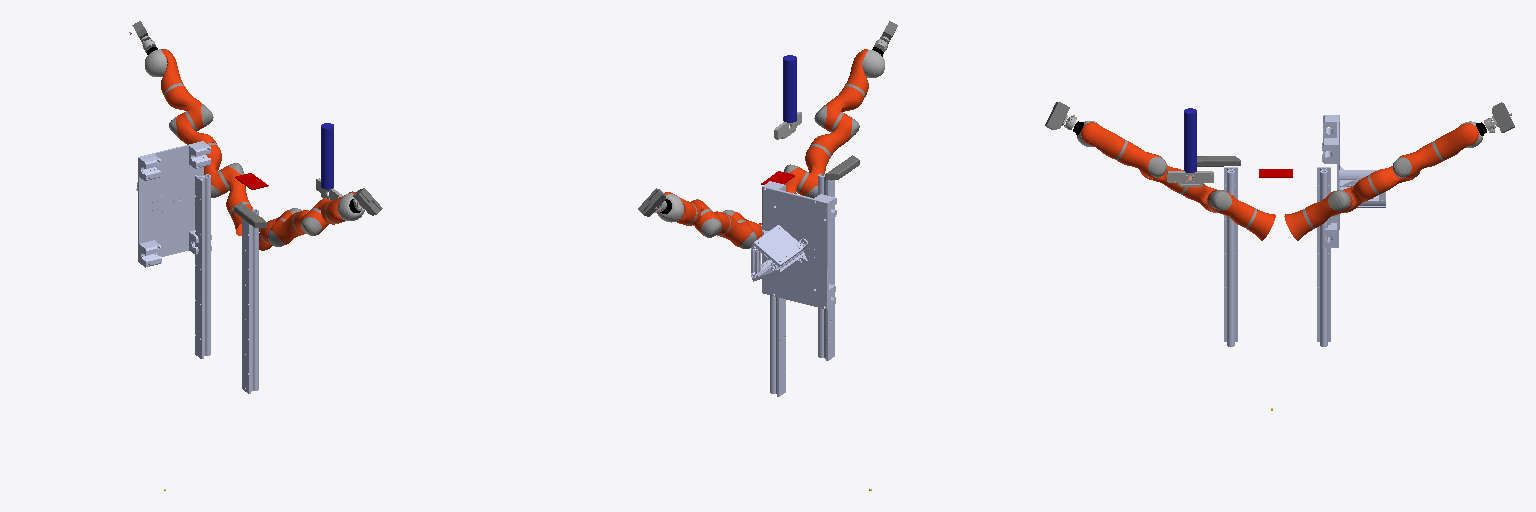
--- Facts derived from the render (not from the file) ---
3 views of the same robot in one strip: view 1: azimuth 30°, elevation 25°; view 2: azimuth 150°, elevation 25°; view 3: azimuth 270°, elevation 25° (orthographic).
Robot: boxy_description — 82 links, 81 joints (20 revolute, 3 continuous, 6 prismatic, 52 fixed); root link base_footprint; default pose: all joints at 0 but 4 set to mid-range because 0 is outside their limits (left_gripper_base_gripper_left_joint = -0.0289, left_gripper_base_gripper_right_joint = 0.0289, right_gripper_base_gripper_left_joint = -0.0289, right_gripper_base_gripper_right_joint = 0.0289).
Visible links, largest first — view 1: triangle_base_link, torso_base_link, left_arm_4_link, neck_look_target, left_arm_1_link, left_arm_3_link, right_arm_3_link, left_arm_2_link, right_arm_2_link; view 2: triangle_base_link, torso_base_link, right_arm_4_link, right_arm_2_link, neck_look_target, right_arm_3_link, left_arm_3_link, left_arm_2_link; view 3: torso_base_link, triangle_base_link, right_arm_4_link, left_arm_4_link, left_arm_1_link, right_arm_1_link, right_arm_5_link, left_arm_5_link, neck_look_target, neck_adapter_iso50_kinect2_frame_in, left_arm_2_link, left_arm_3_link (+2 smaller).
Link boxes in pixels (x1,y1,x2,y2): triangle_base_link: (136,141,211,267); torso_base_link: (195,174,258,393); left_arm_4_link: (164,83,213,130); neck_look_target: (321,123,333,189); left_arm_1_link: (217,163,249,213); left_arm_3_link: (169,111,216,144); right_arm_3_link: (294,208,328,235); left_arm_2_link: (204,143,227,197); right_arm_2_link: (268,212,303,246); triangle_base_link: (751,181,836,309); torso_base_link: (770,174,834,396); right_arm_4_link: (814,84,864,131); right_arm_2_link: (798,144,830,198); neck_look_target: (783,55,796,122); right_arm_3_link: (811,112,859,155); left_arm_3_link: (694,209,729,237); left_arm_2_link: (717,213,756,248); torso_base_link: (1224,167,1330,346); triangle_base_link: (1322,115,1385,247); right_arm_4_link: (1115,140,1166,177); left_arm_4_link: (1393,141,1444,178); left_arm_1_link: (1305,190,1352,227); right_arm_1_link: (1207,190,1254,227); right_arm_5_link: (1081,122,1124,158); left_arm_5_link: (1435,123,1478,159); neck_look_target: (1184,108,1196,172); neck_adapter_iso50_kinect2_frame_in: (1167,171,1213,186); left_arm_2_link: (1344,175,1379,212); left_arm_3_link: (1370,166,1420,193).
Size in the robot's own frame: 0.7743 by 2.52 by 2.1 metres.
Meshes: 27 distinct files referenced, 41 mesh visuals loaded (13 binary STL, 6 Collada DAE); not drawn: 8 (reference not matched to a file when rendering).

URDF robot description (boxy_description):
<?xml version="1.0" ?>
<!-- =================================================================================== -->
<!-- |    This document was autogenerated by xacro from ./boxy_description.urdf.xacro  | -->
<!-- |    EDITING THIS FILE BY HAND IS NOT RECOMMENDED                                 | -->
<!-- =================================================================================== -->
<robot name="boxy_description" xmlns:controller="http://playerstage.sourceforge.net/gazebo/xmlschema/#controller" xmlns:interface="http://playerstage.sourceforge.net/gazebo/xmlschema/#interface" xmlns:sensor="http://playerstage.sourceforge.net/gazebo/xmlschema/#sensor" xmlns:xacro="http://ros.org/wiki/xacro">
  <material name="DarkGrey">
    <color rgba="0.3 0.3 0.3 1.0"/>
  </material>
  <material name="DarkerGrey">
    <color rgba="0.15 0.15 0.15 1.0"/>
  </material>
  <material name="Black">
    <color rgba="0 0 0 1.0"/>
  </material>
  <material name="Orange">
    <color rgba="1.0 0.487 0 1.0"/>
  </material>
  <material name="UniHB-Red">
    <!--UniBremen Red is Verkehrsrot / RAL 7035 ~= RGB 193 18 28 -->
    <color rgba=".7568627 .070588 .10980392 1.0"/>
  </material>
  <material name="Silver">
    <color rgba="1.0 1.0 1.0 1.0"/>
  </material>
  <material name="Grey">
    <color rgba="0.7 0.7 0.7 1.0"/>
  </material>
  <material name="Blue">
    <color rgba="0.0 0.0 0.8 1.0"/>
  </material>
  <material name="HandGray">
    <color rgba="0.953 0.996 0.694 1.0"/>
  </material>
  <material name="SickBlue">
    <color rgba="0.3058 0.5921 0.7294 1.0"/>
  </material>
  <!--
     Little helper macro to define the inertia matrix needed
     for links.
     -->
  <!-- length is along the y-axis! -->
  <!--
  Author: Felix Messmer
-->
  <!-- Inertia parameters -->
  <!-- This mass might be incorrect -->
  <!-- These parameters are borrowed from the urcontrol.conf file
       but are not verified for the correct permutation.
       The permutation was guessed by looking at the UR5 parameters.
       Serious use of these parameters needs further inspection. -->
  <!-- Kinematic model -->
  <!-- Properties from urcontrol.conf -->
  <!-- Arbitrary offsets for shoulder/elbow joints -->
  <!-- measured from model -->
  <!-- measured from model -->
  <!-- link lengths used in model -->
  <!-- Property definitions e.g. constants -->
  <!--this is the diamiter of one of the aluminium (/2) pipes (20mm) = the diamiter of the piece that holds the slider (45mm) -->
  <!-- distance from the axis 0 to the first alu pipe 74 + distance between the pipes 150 + diamiter of the slider 200 /2   ( = center ) -->
  <!-- /Property definitions e.g. constants -->
  <link name="base_link">
    <inertial>
      <origin rpy="0 0 0" xyz="-0.257082749974343 -0.227847593519202 0.0535404411050965"/>
      <mass value="70.0210745907357"/>
      <inertia ixx="9.06122735721955" ixy="0.0933988942518672" ixz="0.665662584048376" iyy="12.5350462868938" iyz="0.00262520723302998" izz="7.44839974564544"/>
    </inertial>
    <visual>
      <origin rpy="0 0 0" xyz="0 0 0"/>
      <geometry>
        <!-- <mesh -->
        <!--   filename="package://iai_boxy_base/meshes/base_link.STL" /> -->
        <mesh filename="package://iai_boxy_base/meshes/base_link.dae"/>
      </geometry>
      <material name="">
        <color rgba="0.792156862745098 0.819607843137255 0.933333333333333 1"/>
      </material>
    </visual>
    <collision>
      <origin rpy="0 0 0" xyz="0 0 0"/>
      <geometry>
        <mesh filename="package://iai_boxy_base/meshes/base_link_simple.STL"/>
      </geometry>
    </collision>
  </link>
  <link name="laser_reference_front"/>
  <joint name="laser_reference_front_joint" type="fixed">
    <origin rpy="-4.1881E-15 -4.2124E-15 0.7854" xyz="0.19107 0.0506 0.1575"/>
    <parent link="base_link"/>
    <child link="laser_reference_front"/>
    <axis xyz="-0.99849 0 -0.054862"/>
  </joint>
  <link name="laser_reference_back"/>
  <joint name="laser_reference_back_joint" type="fixed">
    <origin rpy="4.9333E-15 4.5082E-15 -2.3562" xyz="-0.69357 -0.506 0.1575"/>
    <parent link="base_link"/>
    <child link="laser_reference_back"/>
    <axis xyz="-1 0 0"/>
  </joint>
  <link name="base_footprint">
    <visual>
      <origin rpy="0 0 0" xyz="0 0 0"/>
      <geometry>
        <box size="0.01 0.01 0.01"/>
      </geometry>
      <material name="White"/>
    </visual>
    <collision>
      <origin rpy="0 0 0" xyz="0 0 0.071"/>
      <geometry>
        <box size="0.001 0.001 0.001"/>
      </geometry>
    </collision>
  </link>
  <!-- JOINT to define base_footprint -->
  <joint name="base_footprint_joint" type="fixed">
    <origin rpy="0 0 0" xyz="0.36 0.25 0.16"/>
    <parent link="base_footprint"/>
    <child link="base_link"/>
  </joint>
  <!-- /JOINT for base_footprint -->
  <!-- NEW NECK ASSEMBLY -->
  <!-- mounting plate of UR3 -->
  <!-- Joint connecting the parent to our frame_in -->
  <joint name="neck_adapter_ur3_in_joint" type="fixed">
    <origin rpy="0 0 0" xyz="0.175 -0.227 1.48"/>
    <parent link="base_link"/>
    <child link="neck_adapter_ur3_frame_in"/>
  </joint>
  <!-- FIXME: replace this with the actual mesh exported by Alexis -->
  <link name="neck_adapter_ur3_frame_in">
    <visual>
      <origin rpy="0 0 0" xyz="0 0 0"/>
      <geometry>
        <box size="0.1 0.18 0.006"/>
      </geometry>
      <material name="red">
        <color rgba="0.8 0 0 1"/>
      </material>
    </visual>
  </link>
  <!-- joint positioning the frame_out -->
  <joint name="neck_adapter_ur3_trans_frame_out" type="fixed">
    <origin rpy="0 0 0" xyz="0 0 0.003"/>
    <parent link="neck_adapter_ur3_frame_in"/>
    <child link="neck_adapter_ur3_frame_out"/>
  </joint>
  <!-- Empty link just to get the frame out -->
  <link name="neck_adapter_ur3_frame_out"/>
  <!-- The joint connecting us to the next part of the chain is in the next URDF -->
  <joint name="neck_mounting_joint" type="fixed">
    <parent link="neck_adapter_ur3_frame_out"/>
    <child link="neck_base_link"/>
    <origin rpy="0.0 0.0 -1.57079632679" xyz="0.0 0.0 0.0"/>
  </joint>
  <link name="neck_base_link">
    <visual>
      <geometry>
        <mesh filename="package://iai_ur_description/meshes/ur3/visual/base.dae"/>
      </geometry>
      <material name="LightGrey">
        <color rgba="0.7 0.7 0.7 1.0"/>
      </material>
    </visual>
    <collision>
      <geometry>
        <mesh filename="package://iai_ur_description/meshes/ur3/collision/base.stl"/>
      </geometry>
    </collision>
    <inertial>
      <mass value="2.0"/>
      <origin rpy="0 0 0" xyz="0.0 0.0 0.0"/>
      <inertia ixx="0.0030531654454" ixy="0.0" ixz="0.0" iyy="0.0030531654454" iyz="0.0" izz="0.005625"/>
    </inertial>
  </link>
  <joint name="neck_shoulder_pan_joint" type="revolute">
    <parent link="neck_base_link"/>
    <child link="neck_shoulder_link"/>
    <origin rpy="0.0 0.0 0.0" xyz="0.0 0.0 0.1519"/>
    <axis xyz="0 0 1"/>
    <limit effort="330.0" lower="-3.14159265" upper="3.14159265" velocity="2.16"/>
    <dynamics damping="0.0" friction="0.0"/>
  </joint>
  <link name="neck_shoulder_link">
    <visual>
      <geometry>
        <mesh filename="package://iai_ur_description/meshes/ur3/visual/shoulder.dae"/>
      </geometry>
      <material name="LightGrey">
        <color rgba="0.7 0.7 0.7 1.0"/>
      </material>
    </visual>
    <collision>
      <geometry>
        <mesh filename="package://iai_ur_description/meshes/ur3/collision/shoulder.stl"/>
      </geometry>
    </collision>
    <inertial>
      <mass value="2.0"/>
      <origin rpy="0 0 0" xyz="0.0 0.0 0.0"/>
      <inertia ixx="0.0080931634294" ixy="0.0" ixz="0.0" iyy="0.0080931634294" iyz="0.0" izz="0.005625"/>
    </inertial>
  </link>
  <joint name="neck_shoulder_lift_joint" type="revolute">
    <parent link="neck_shoulder_link"/>
    <child link="neck_upper_arm_link"/>
    <origin rpy="0.0 1.570796325 0.0" xyz="0.0 0.1198 0.0"/>
    <axis xyz="0 1 0"/>
    <limit effort="330.0" lower="-3.14159265" upper="3.14159265" velocity="2.16"/>
    <dynamics damping="0.0" friction="0.0"/>
  </joint>
  <link name="neck_upper_arm_link">
    <visual>
      <geometry>
        <mesh filename="package://iai_ur_description/meshes/ur3/visual/upperarm.dae"/>
      </geometry>
      <material name="LightGrey">
        <color rgba="0.7 0.7 0.7 1.0"/>
      </material>
    </visual>
    <collision>
      <geometry>
        <mesh filename="package://iai_ur_description/meshes/ur3/collision/upperarm.stl"/>
      </geometry>
    </collision>
    <inertial>
      <mass value="3.42"/>
      <origin rpy="0 0 0" xyz="0.0 0.0 0.121825"/>
      <inertia ixx="0.0217284832211" ixy="0.0" ixz="0.0" iyy="0.0217284832211" iyz="0.0" izz="0.00961875"/>
    </inertial>
  </link>
  <joint name="neck_elbow_joint" type="revolute">
    <parent link="neck_upper_arm_link"/>
    <child link="neck_forearm_link"/>
    <origin rpy="0.0 0.0 0.0" xyz="0.0 -0.0925 0.24365"/>
    <axis xyz="0 1 0"/>
    <limit effort="150.0" lower="-3.14159265" upper="3.14159265" velocity="3.15"/>
    <dynamics damping="0.0" friction="0.0"/>
  </joint>
  <link name="neck_forearm_link">
    <visual>
      <geometry>
        <mesh filename="package://iai_ur_description/meshes/ur3/visual/forearm.dae"/>
      </geometry>
      <material name="LightGrey">
        <color rgba="0.7 0.7 0.7 1.0"/>
      </material>
    </visual>
    <collision>
      <geometry>
        <mesh filename="package://iai_ur_description/meshes/ur3/collision/forearm.stl"/>
      </geometry>
    </collision>
    <inertial>
      <mass value="1.26"/>
      <origin rpy="0 0 0" xyz="0.0 0.0 0.106625"/>
      <inertia ixx="0.00654680644378" ixy="0.0" ixz="0.0" iyy="0.00654680644378" iyz="0.0" izz="0.00354375"/>
    </inertial>
  </link>
  <joint name="neck_wrist_1_joint" type="revolute">
    <parent link="neck_forearm_link"/>
    <child link="neck_wrist_1_link"/>
    <origin rpy="0.0 1.570796325 0.0" xyz="0.0 0.0 0.21325"/>
    <axis xyz="0 1 0"/>
    <limit effort="54.0" lower="-3.14159265" upper="3.14159265" velocity="3.2"/>
    <dynamics damping="0.0" friction="0.0"/>
  </joint>
  <link name="neck_wrist_1_link">
    <visual>
      <geometry>
        <mesh filename="package://iai_ur_description/meshes/ur3/visual/wrist1.dae"/>
      </geometry>
      <material name="LightGrey">
        <color rgba="0.7 0.7 0.7 1.0"/>
      </material>
    </visual>
    <collision>
      <geometry>
        <mesh filename="package://iai_ur_description/meshes/ur3/collision/wrist1.stl"/>
      </geometry>
    </collision>
    <inertial>
      <mass value="0.8"/>
      <origin rpy="0 0 0" xyz="0.0 0.0 0.0"/>
      <inertia ixx="0.002084999166" ixy="0.0" ixz="0.0" iyy="0.002084999166" iyz="0.0" izz="0.00225"/>
    </inertial>
  </link>
  <joint name="neck_wrist_2_joint" type="revolute">
    <parent link="neck_wrist_1_link"/>
    <child link="neck_wrist_2_link"/>
    <origin rpy="0.0 0.0 0.0" xyz="0.0 0.08505 0.0"/>
    <axis xyz="0 0 1"/>
    <limit effort="54.0" lower="-3.14159265" upper="3.14159265" velocity="3.2"/>
    <dynamics damping="0.0" friction="0.0"/>
  </joint>
  <link name="neck_wrist_2_link">
    <visual>
      <geometry>
        <mesh filename="package://iai_ur_description/meshes/ur3/visual/wrist2.dae"/>
      </geometry>
      <material name="LightGrey">
        <color rgba="0.7 0.7 0.7 1.0"/>
      </material>
    </visual>
    <collision>
      <geometry>
        <mesh filename="package://iai_ur_description/meshes/ur3/collision/wrist2.stl"/>
      </geometry>
    </collision>
    <inertial>
      <mass value="0.8"/>
      <origin rpy="0 0 0" xyz="0.0 0.0 0.0"/>
      <inertia ixx="0.002084999166" ixy="0.0" ixz="0.0" iyy="0.002084999166" iyz="0.0" izz="0.00225"/>
    </inertial>
  </link>
  <joint name="neck_wrist_3_joint" type="revolute">
    <parent link="neck_wrist_2_link"/>
    <child link="neck_wrist_3_link"/>
    <origin rpy="0.0 0.0 0.0" xyz="0.0 0.0 0.08535"/>
    <axis xyz="0 1 0"/>
    <limit effort="54.0" lower="-3.14159265" upper="3.14159265" velocity="3.2"/>
    <dynamics damping="0.0" friction="0.0"/>
  </joint>
  <link name="neck_wrist_3_link">
    <visual>
      <geometry>
        <mesh filename="package://iai_ur_description/meshes/ur3/visual/wrist3.dae"/>
      </geometry>
      <material name="LightGrey">
        <color rgba="0.7 0.7 0.7 1.0"/>
      </material>
    </visual>
    <collision>
      <geometry>
        <mesh filename="package://iai_ur_description/meshes/ur3/collision/wrist3.stl"/>
      </geometry>
    </collision>
    <inertial>
      <mass value="0.35"/>
      <origin rpy="0 0 0" xyz="0.0 0.0 0.0"/>
      <inertia ixx="0.000912187135125" ixy="0.0" ixz="0.0" iyy="0.000912187135125" iyz="0.0" izz="0.000984375"/>
    </inertial>
  </link>
  <joint name="neck_ee_fixed_joint" type="fixed">
    <parent link="neck_wrist_3_link"/>
    <child link="neck_ee_link"/>
    <origin rpy="0.0 0.0 1.570796325" xyz="0.0 0.0819 0.0"/>
  </joint>
  <link name="neck_ee_link">
    <collision>
      <geometry>
        <box size="0.01 0.01 0.01"/>
      </geometry>
      <origin rpy="0 0 0" xyz="-0.01 0 0"/>
    </collision>
  </link>
  <transmission name="neck_shoulder_pan_trans" type="pr2_mechanism_model/SimpleTransmission">
    <actuator name="neck_shoulder_pan_motor"/>
    <joint name="neck_shoulder_pan_joint"/>
    <mechanicalReduction>1.0</mechanicalReduction>
  </transmission>
  <transmission name="neck_shoulder_lift_trans" type="pr2_mechanism_model/SimpleTransmission">
    <actuator name="neck_shoulder_lift_motor"/>
    <joint name="neck_shoulder_lift_joint"/>
    <mechanicalReduction>1.0</mechanicalReduction>
  </transmission>
  <transmission name="neck_elbow_trans" type="pr2_mechanism_model/SimpleTransmission">
    <actuator name="neck_elbow_motor"/>
    <joint name="neck_elbow_joint"/>
    <mechanicalReduction>1.0</mechanicalReduction>
  </transmission>
  <transmission name="neck_wrist_1_trans" type="pr2_mechanism_model/SimpleTransmission">
    <actuator name="neck_wrist_1_motor"/>
    <joint name="neck_wrist_1_joint"/>
    <mechanicalReduction>1.0</mechanicalReduction>
  </transmission>
  <transmission name="neck_wrist_2_trans" type="pr2_mechanism_model/SimpleTransmission">
    <actuator name="neck_wrist_2_motor"/>
    <joint name="neck_wrist_2_joint"/>
    <mechanicalReduction>1.0</mechanicalReduction>
  </transmission>
  <transmission name="neck_wrist_3_trans" type="pr2_mechanism_model/SimpleTransmission">
    <actuator name="neck_wrist_3_motor"/>
    <joint name="neck_wrist_3_joint"/>
    <mechanicalReduction>1.0</mechanicalReduction>
  </transmission>
  <!-- nothing to do here at the moment -->
  <!-- ROS base_link to UR 'Base' Coordinates transform -->
  <link name="neck_base"/>
  <joint name="neck_base_link-base_fixed_joint" type="fixed">
    <!-- NOTE: this rotation is only needed as long as base_link itself is
                 not corrected wrt the real robot (ie: rotated over 180
                 degrees)
      -->
    <origin rpy="0 0 -3.14159265" xyz="0 0 0"/>
    <parent link="neck_base_link"/>
    <child link="neck_base"/>
  </joint>
  <!-- Frame coincident with all-zeros TCP on UR controller -->
  <link name="neck_tool0"/>
  <joint name="neck_wrist_3_link-tool0_fixed_joint" type="fixed">
    <origin rpy="-1.570796325 0 0" xyz="0 0.0819 0"/>
    <parent link="neck_wrist_3_link"/>
    <child link="neck_tool0"/>
  </joint>
  <!-- The following URDF has frame_in / frame_out, so it is placed at the parent -->
  <!-- Joint connecting the parent to our frame_in -->
  <joint name="neck_adapter_iso50_kinect2_joint" type="fixed">
    <origin rpy="0 0 -1.570795" xyz="0 0 0"/>
    <parent link="neck_tool0"/>
    <child link="neck_adapter_iso50_kinect2_frame_in"/>
  </joint>
  <!-- link for the adapter plate -->
  <link name="neck_adapter_iso50_kinect2_frame_in">
    <visual>
      <origin rpy="0 0 0" xyz="0 0 0"/>
      <geometry>
        <mesh filename="package://iai_adapter_iso50_kinect2_description/meshes/adapter_iso50_kinect2.stl" scale="1 1 1"/>
      </geometry>
      <material name="Grey"/>
    </visual>
  </link>
  <!-- Empty link just to get the frame out -->
  <link name="neck_adapter_iso50_kinect2_frame_out"/>
  <!-- joint positioning the frame_out -->
  <joint name="neck_adapter_iso50_kinect2_trans_frame_out" type="fixed">
    <origin rpy="0 0 0" xyz="0 0 0.020"/>
    <parent link="neck_adapter_iso50_kinect2_frame_in"/>
    <child link="neck_adapter_iso50_kinect2_frame_out"/>
    <axis xyz="0 0 0"/>
  </joint>
  <!-- Imaginary joint to determine where Kineckt2 is looking -->
  <joint name="neck_joint_end" type="prismatic">
    <pose rpy="0 0 0" xyz="0 0 0"/>
    <parent link="neck_tool0"/>
    <child link="neck_look_target"/>
    <limit effort="1000.0" lower="0" upper="1.5" velocity="0.5"/>
    <origin rpy="-1.5708 0 0" xyz="0 0.01 0"/>
    <axis xyz="0 0 1"/>
  </joint>
  <link name="neck_look_target">
    <visual>
      <origin rpy="0 0 0" xyz="0 0 0.205"/>
      <geometry>
        <cylinder length="0.35" radius="0.035"/>
      </geometry>
      <material name="blue">
        <color rgba="0.2 0.2 0.7 1"/>
      </material>
    </visual>
  </link>
  <!-- Joints at the end of the target, to allow any orientation -->
  <joint name="head1" type="continuous">
    <parent link="neck_look_target"/>
    <child link="neck_look_target_2"/>
    <origin rpy="0 0 0" xyz="0 0 0"/>
    <axis xyz="0 0 1"/>
  </joint>
  <joint name="head2" type="continuous">
    <parent link="neck_look_target_2"/>
    <child link="neck_look_target_3"/>
    <origin rpy="0 0 0" xyz="0 0 0"/>
    <axis xyz="0 1 0"/>
  </joint>
  <joint name="head3" type="continuous">
    <parent link="neck_look_target_3"/>
    <child link="neck_look_target_4"/>
    <origin rpy="0 0 0" xyz="0 0 0"/>
    <axis xyz="1 0 0"/>
  </joint>
  <link name="neck_look_target_2"/>
  <link name="neck_look_target_3"/>
  <link name="neck_look_target_4"/>
  <!-- /NEW NECK ASSEMBLY -->
  <!-- OLD NEW ASSEMBLY -->
  <!-- JOINT to connect the base with the pw070 -->
  <!--joint name="head_joint" type="fixed">
		<parent link="base_link" />
		<child link="pw070_base_link" />
	</joint-->
  <!-- /JOINT to connect the base with the pw070 -->
  <!--xacro:include filename="$(find iai_schunk_pw070_v6)/robots/pw070_v6.URDF" /-->
  <!-- Kinect2 -->
  <!-- Pose comes from tool_H_clink in the calibration
             The quaternion was converted to RPY using python and KDL
               halcon has quat: w x y z
               kdl and tf_static_transform_publisher use: x y z w
             So take the first number from the halcon quat and put it last for KDL.
               import PyKDL as p; r2 = p.Rotation.Quaternion(-0.494547,0.491515,-0.506787,0.506955) ; r2.GetRPY() 
               answer: (-1.5431199762943342, -0.0029080109443817533, -1.5676362600579434) -->
  <!-- The following kinect2_xacro defines the _kinect2_rgb_optical_frame
        And includes the fixed joint to place the kinect on the pw070  -->
  <material name="Kinect2Grey">
    <color rgba="0.15 0.15 0.15 1.0"/>
  </material>
  <!-- Joint connecting the parent to our frame_in -->
  <joint name="head_mount_kinect2_in_joint" type="fixed">
    <origin rpy="-1.570795 0 1.570795" xyz="-0.02 0.10 0.02"/>
    <parent link="neck_adapter_iso50_kinect2_frame_out"/>
    <child link="head_mount_kinect2_rgb_optical_frame"/>
  </joint>
  <link name="head_mount_kinect2_rgb_optical_frame">
    <visual>
      <origin rpy="0 0 0" xyz="0 0 0"/>
      <geometry>
        <!-- these meshes were exported in mm, so scale back to m -->
        <mesh filename="package://iai_kinect2_description/meshes/kinect2_origin_on_rgb_optical_frame.stl" scale="0.001 0.001 0.001"/>
      </geometry>
      <material name="Kinect2Grey"/>
    </visual>
  </link>
  <!-- shoulder kinect -->
  <!-- ORIGINAL DATA FROM HALCON CALIBRATION:
             from: base_link to: shoulder_kinect_link
             translation: -0.135394 -0.00764754 1.54755 (xyz)
             quaternion: 0.0177781 0.202257 -0.0472198 0.978032 (xyzw) -->
  <joint name="shoulder_kinect_joint" type="fixed">
    <origin rpy="0.01708077682636155 0.0085798647123734 -0.00929470452726490" xyz="-0.00585394 -0.52064754 1.46001"/>
    <parent link="base_link"/>
    <child link="shoulder_kinect_link"/>
  </joint>
  <link name="shoulder_kinect_link">
    <visual>
      <!-- NOTE: I (Georg Bartels) put these to be visually pleasing with our calibration
                    on February 11th, 2015. They are not set in stone! If the calibration
                    changes you might have to touch them again. Sorry! -->
      <origin rpy="1.57079632679 0 1.57079632679" xyz="-0.05 -0.17 -0.02"/>
      <geometry>
        <mesh filename="package://iai_kinect_description/meshes/68-04546_Kinect_Sensor--coarse.STL" scale="0.001 0.001 0.001"/>
      </geometry>
      <material name="gray">
        <color rgba="0.5 0.5 0.5 1"/>
      </material>
    </visual>
    <collision>
      <origin rpy="0 0 0" xyz="0.0 0.0 0"/>
      <geometry>
        <sphere radius="0.0005"/>
      </geometry>
    </collision>
  </link>
  <!--<joint name="${name}_rgb_joint" type="fixed">
      <origin xyz="0.0 -0.045 0.0" rpy="0.0 0.0 0.0"/>
      <parent link="${name}_link"/>
      <child link="${name}_rgb_frame"/>
    </joint>
    
    <link name="${name}_rgb_frame"/>
    
    <joint name="${name}_rgb_optical_joint" type="fixed">
      <origin xyz="0.0 0.0 0.0" rpy="${-M_PI/2.0} 0.0 ${-M_PI/2.0}"/>
      <parent link="${name}_rgb_frame"/>
      <child link="${name}_rgb_optical_frame"/>
    </joint>
    
    <link name="${name}_rgb_optical_frame"/>
    
    <joint name="${name}_depth_joint" type="fixed">
      <origin xyz="0.0 -0.02 0.0" rpy="0.0 0.0 0.0"/>
      <parent link="${name}_link"/>
      <child link="${name}_depth_frame"/>
    </joint>
    
    <link name="${name}_depth_frame"/>
    
    <joint name="${name}_depth_optical_joint" type="fixed">
      <origin xyz="0.0 0.0 0.0" rpy="${-M_PI/2.0} 0.0 ${-M_PI/2.0}"/>
      <parent link="${name}_depth_frame"/>
      <child link="${name}_depth_optical_frame"/>
    </joint>
    
    <link name="${name}_depth_optical_frame"/>-->
  <!-- JOINT to connect the base with the torso -->
  <joint name="torso_joint" type="fixed">
    <origin rpy="0 0 0" xyz="0 0.065 0.41"/>
    <parent link="base_link"/>
    <child link="torso_base_link"/>
  </joint>
  <!-- /JOINT to connect the base with the torso -->
  <link name="torso_base_link">
    <inertial>
      <origin rpy="0 0 0" xyz="0.0307745199844149 -0.285 0.513294719377322"/>
      <mass value="3.82694041846288"/>
      <inertia ixx="0.573902290642399" ixy="-2.79383327284778E-16" ixz="1.66346332789765E-05" iyy="0.338648611077492" iyz="-1.04080029390922E-16" izz="0.239577094605918"/>
    </inertial>
    <visual>
      <origin rpy="0 0 0" xyz="0 0 0"/>
      <geometry>
        <mesh filename="package://iai_boxy_torso/meshes/torso_base_link.STL"/>
      </geometry>
      <material name="">
        <color rgba="0.792156862745098 0.819607843137255 0.933333333333333 1"/>
      </material>
    </visual>
    <collision>
      <origin rpy="0 0 0" xyz="0 0 0"/>
      <geometry>
        <mesh filename="package://iai_boxy_torso/meshes/torso_base_link_simple.STL"/>
      </geometry>
    </collision>
  </link>
  <link name="triangle_base_link">
    <inertial>
      <origin rpy="0 0 0" xyz="-0.302419226632933 -0.181352787411384 -0.0325004871109191"/>
      <mass value="7.36699467665114"/>
      <inertia ixx="0.145376830313475" ixy="0.00013303151578814" ixz="4.5364480793564E-05" iyy="0.280518816650801" iyz="-0.00910948982082533" izz="0.330070759835274"/>
    </inertial>
    <visual>
      <origin rpy="0 0 0" xyz="0 0 0"/>
      <geometry>
        <mesh filename="package://iai_boxy_torso/meshes/triangle_base_link.STL"/>
      </geometry>
      <material name="">
        <color rgba="0.792156862745098 0.819607843137255 0.933333333333333 1"/>
      </material>
    </visual>
    <collision>
      <origin rpy="0 0 0" xyz="0 0 0"/>
      <geometry>
        <mesh filename="package://iai_boxy_torso/meshes/triangle_base_link.STL"/>
      </geometry>
    </collision>
  </link>
  <joint name="triangle_base_joint" type="prismatic">
    <!-- Values for the old xtion -->
    <!--origin  
      xyz="0.0674958675029617 0.10311858113734 0.915114291670046"
      rpy="4.7298 6.267 1.5685260" /-->
    <!-- Output of the hand/eye calibration baserobot_H_basearm-->
    <origin rpy="4.70695928 6.28217403836 1.56327975371" xyz="0.0786889663592487 0.0986351579738104 0.996332096493862"/>
    <parent link="base_link"/>
    <child link="triangle_base_link"/>
    <axis xyz="0 -1 0"/>
    <limit effort="0" lower="-0.586" upper="0" velocity="0.02"/>
    <calibration rising="0.0"/>
  </joint>
  <transmission name="triangle_base_transmission" type="pr2_mechanism_model/SimpleTransmission">
    <actuator name="triangle_base_motor"/>
    <joint name="triangle_base_joint"/>
    <mechanicalReduction>1.0</mechanicalReduction>
  </transmission>
  <link name="triangle_left_arm_link"/>
  <joint name="triangle_left_arm_joint" type="fixed">
    <origin rpy="2.61799387796333 -1.5707963267949 0" xyz="-0.239507442352261 -0.181209704131733 -0.137000000000002"/>
    <parent link="triangle_base_link"/>
    <child link="triangle_left_arm_link"/>
    <axis xyz="0 0 0"/>
  </joint>
  <link name="triangle_right_arm_link"/>
  <joint name="triangle_right_arm_joint" type="fixed">
    <origin rpy="2.61799387801966 1.5707963267949 0" xyz="-0.365488160465715 -0.181209539931436 -0.137"/>
    <parent link="triangle_base_link"/>
    <child link="triangle_right_arm_link"/>
    <axis xyz="0 0 0"/>
  </joint>
  <!--FIXME: triangle_left_arm_link should be rotated, and not the origin of the arm (which right now is calib_left_arm_base_link -->
  <joint name="triangle_left_arm_link_left_arm_base_joint" type="fixed">
    <origin rpy="0 0 1.047198" xyz="0 0 0"/>
    <parent link="triangle_left_arm_link"/>
    <child link="calib_left_arm_base_link"/>
  </joint>
  <link name="calib_left_arm_base_link">
    <inertial>
      <mass value="2.0"/>
      <origin rpy="0 0 0" xyz="0 0 0.055"/>
      <inertia ixx="0.00381666666667" ixy="0" ixz="0" iyy="0.0036" iyz="0" izz="0.00381666666667"/>
    </inertial>
    <visual>
      <origin rpy="0 0 0" xyz="0 0 0"/>
      <geometry>
        <!-- for each mesh we have two versions, one Collada file with normals and colors, and one simpler STL. The collada file is in cm, and the STL in meters -->
        <mesh filename="package://iai_kuka_lwr4_description/meshes/arm_base.dae" scale="1 1 1"/>
        <!--mesh filename="package://iai_kuka_lwr4_description/meshes/arm_base.stl" scale="1 1 1"-->
      </geometry>
      <!--material name="UniHB-Red"/-->
    </visual>
    <collision>
      <origin rpy="0 0 0" xyz="0 0 0"/>
      <geometry>
        <mesh filename="package://iai_kuka_lwr4_description/meshes/convex/arm_base_convex.stl"/>
      </geometry>
    </collision>
  </link>
  <gazebo reference="calib_left_arm_base_link">
    <material value="kuka-lwr.material"/>
  </gazebo>
  <joint name="left_arm_0_joint" type="revolute">
    <origin rpy="0 0 0" xyz="0 0 0.11"/>
    <axis xyz="0 0 1"/>
    <limit effort="204" lower="-2.61799387799" upper="2.61799387799" velocity="1.91986217719"/>
    <safety_controller k_position="100" k_velocity="2" soft_lower_limit="-2.58308729295" soft_upper_limit="2.58308729295"/>
    <dynamics damping="0.1"/>
    <calibration rising="0.0"/>
    <parent link="calib_left_arm_base_link"/>
    <child link="left_arm_1_link"/>
  </joint>
  <link name="left_arm_1_link">
    <inertial>
      <mass value="2.0"/>
      <origin rpy="0 0 0" xyz="0 0 0.130"/>
      <inertia ixx="0.0136666666667" ixy="0" ixz="0" iyy="0.003" iyz="0" izz="0.0118666666667"/>
    </inertial>
    <visual>
      <origin rpy="0 0 3.14159265359" xyz="0 0 0"/>
      <geometry>
        <mesh filename="package://iai_kuka_lwr4_description/meshes/arm_segment_a.dae" scale="1 1 1"/>
        <!--mesh filename="package://iai_kuka_lwr4_description/meshes/arm_segment_a.stl" scale="1 1 1"/-->
      </geometry>
      <!--material name="UniHB-Red"/-->
    </visual>
    <collision>
      <origin rpy="0 0 3.14159265359" xyz="0 0 0"/>
      <geometry>
        <mesh filename="package://iai_kuka_lwr4_description/meshes/convex/arm_segment_a_convex.stl"/>
      </geometry>
    </collision>
  </link>
  <gazebo reference="left_arm_1_link">
    <material value="kuka-lwr.material"/>
  </gazebo>
  <transmission name="left_arm_0_trans" type="pr2_mechanism_model/SimpleTransmission">
    <actuator name="left_arm_0_motor"/>
    <joint name="left_arm_0_joint"/>
    <mechanicalReduction>1.0</mechanicalReduction>
  </transmission>
  <joint name="left_arm_1_joint" type="revolute">
    <origin rpy="0 0 0" xyz="0 0 0.20"/>
    <axis xyz="0 -1 0"/>
    <limit effort="306" lower="-1.86750229963" upper="1.86750229963" velocity="1.91986217719"/>
    <safety_controller k_position="100" k_velocity="2" soft_lower_limit="-1.83259571459" soft_upper_limit="1.83259571459"/>
    <dynamics damping="0.1"/>
    <calibration rising="0.0"/>
    <parent link="left_arm_1_link"/>
    <child link="left_arm_2_link"/>
  </joint>
  <link name="left_arm_2_link">
    <inertial>
      <mass value="2.0"/>
      <origin rpy="0 0 0" xyz="0 0.06 0.07"/>
      <inertia ixx="0.0136666666667" ixy="0" ixz="0" iyy="0.003" iyz="0" izz="0.0118666666667"/>
    </inertial>
    <visual>
      <origin rpy="3.14159265359 0 3.14159265359" xyz="0 0 0.2"/>
      <geometry>
        <mesh filename="package://iai_kuka_lwr4_description/meshes/arm_segment_b.dae" scale="1 1 1"/>
        <!--mesh filename="package://iai_kuka_lwr4_description/meshes/arm_segment_b.stl" scale="1 1 1"/-->
      </geometry>
      <!--material name="UniHB-Red"/-->
    </visual>
    <collision>
      <origin rpy="3.14159265359 0 3.14159265359" xyz="0 0 0.2"/>
      <geometry>
        <mesh filename="package://iai_kuka_lwr4_description/meshes/convex/arm_segment_b_convex.stl"/>
      </geometry>
    </collision>
  </link>
  <gazebo reference="left_arm_2_link">
    <material value="kuka-lwr.material"/>
  </gazebo>
  <transmission name="left_arm_1_trans" type="pr2_mechanism_model/SimpleTransmission">
    <actuator name="left_arm_1_motor"/>
    <joint name="left_arm_1_joint"/>
    <mechanicalReduction>1.0</mechanicalReduction>
  </transmission>
  <joint name="left_arm_2_joint" type="revolute">
    <origin rpy="0 0 0" xyz="0 0 0.20"/>
    <axis xyz="0 0 1"/>
    <limit effort="204" lower="-2.61799387799" upper="2.61799387799" velocity="2.26892802759"/>
    <safety_controller k_position="100" k_velocity="2" soft_lower_limit="-2.58308729295" soft_upper_limit="2.58308729295"/>
    <dynamics damping="0.1"/>
    <calibration rising="0.0"/>
    <parent link="left_arm_2_link"/>
    <child link="left_arm_3_link"/>
  </joint>
  <link name="left_arm_3_link">
    <inertial>
      <mass value="2.0"/>
      <origin rpy="0 0 0" xyz="0 0.06 0.130"/>
      <inertia ixx="0.0136666666667" ixy="0" ixz="0" iyy="0.003" iyz="0" izz="0.0118666666667"/>
    </inertial>
    <visual>
      <origin rpy="0 0 0" xyz="0 0 0"/>
      <geometry>
        <mesh filename="package://iai_kuka_lwr4_description/meshes/arm_segment_a.dae" scale="1 1 1"/>
        <!--mesh filename="package://iai_kuka_lwr4_description/meshes/arm_segment_a.stl" scale="1 1 1"/-->
      </geometry>
      <!--material name="UniHB-Red"/-->
    </visual>
    <collision>
      <origin rpy="0 0 0" xyz="0 0 0"/>
      <geometry>
        <mesh filename="package://iai_kuka_lwr4_description/meshes/convex/arm_segment_a_convex.stl"/>
      </geometry>
    </collision>
  </link>
  <gazebo reference="left_arm_3_link">
    <material value="kuka-lwr.material"/>
  </gazebo>
  <transmission name="left_arm_2_trans" type="pr2_mechanism_model/SimpleTransmission">
    <actuator name="left_arm_2_motor"/>
    <joint name="left_arm_2_joint"/>
    <mechanicalReduction>1.0</mechanicalReduction>
  </transmission>
  <joint name="left_arm_3_joint" type="revolute">
    <origin rpy="0 0 0" xyz="0 0 0.20"/>
    <axis xyz="0 1 0"/>
    <limit effort="306" lower="-1.86750229963" upper="1.86750229963" velocity="2.26892802759"/>
    <safety_controller k_position="100" k_velocity="2" soft_lower_limit="-1.83259571459" soft_upper_limit="1.83259571459"/>
    <dynamics damping="0.1"/>
    <calibration rising="0.0"/>
    <parent link="left_arm_3_link"/>
    <child link="left_arm_4_link"/>
  </joint>
  <link name="left_arm_4_link">
    <inertial>
      <mass value="2.0"/>
      <origin rpy="0 0 0" xyz="0 -0.06 0.07"/>
      <inertia ixx="0.0136666666667" ixy="0" ixz="0" iyy="0.003" iyz="0" izz="0.0118666666667"/>
    </inertial>
    <visual>
      <origin rpy="0 3.14159265359 3.14159265359" xyz="0 0 0.2"/>
      <geometry>
        <mesh filename="package://iai_kuka_lwr4_description/meshes/arm_segment_b.dae" scale="1 1 1"/>
        <!--mesh filename="package://iai_kuka_lwr4_description/meshes/arm_segment_b.stl" scale="1 1 1"/-->
      </geometry>
      <!--material name="UniHB-Red"/-->
    </visual>
    <collision>
      <origin rpy="0 3.14159265359 3.14159265359" xyz="0 0 0.2"/>
      <geometry>
        <mesh filename="package://iai_kuka_lwr4_description/meshes/convex/arm_segment_b_convex.stl"/>
      </geometry>
    </collision>
  </link>
  <gazebo reference="left_arm_4_link">
    <material value="kuka-lwr.material"/>
  </gazebo>
  <transmission name="left_arm_3_trans" type="pr2_mechanism_model/SimpleTransmission">
    <actuator name="left_arm_3_motor"/>
    <joint name="left_arm_3_joint"/>
    <mechanicalReduction>1.0</mechanicalReduction>
  </transmission>
  <joint name="left_arm_4_joint" type="revolute">
    <origin rpy="0 0 0" xyz="0 0 0.20"/>
    <axis xyz="0 0 1"/>
    <limit effort="204" lower="-2.61799387799" upper="2.61799387799" velocity="2.26892802759"/>
    <safety_controller k_position="100" k_velocity="2" soft_lower_limit="-2.58308729295" soft_upper_limit="2.58308729295"/>
    <dynamics damping="0.1"/>
    <calibration rising="0.0"/>
    <parent link="left_arm_4_link"/>
    <child link="left_arm_5_link"/>
  </joint>
  <link name="left_arm_5_link">
    <inertial>
      <mass value="2.0"/>
      <origin rpy="0 0 0" xyz="0 0 0.124"/>
      <inertia ixx="0.0126506666667" ixy="0" ixz="0" iyy="0.003" iyz="0" izz="0.0108506666667"/>
    </inertial>
    <visual>
      <origin rpy="0 0 3.14159265359" xyz="0 0 0"/>
      <geometry name="left_arm_5_geom">
        <mesh filename="package://iai_kuka_lwr4_description/meshes/arm_segment_last.dae" scale="1 1 1"/>
        <!--mesh filename="package://iai_kuka_lwr4_description/meshes/arm_segment_last.stl" scale="1 1 1"/-->
      </geometry>
      <!--material name="UniHB-Red"/-->
    </visual>
    <collision>
      <origin rpy="0 0 3.14159265359" xyz="0 0 0"/>
      <geometry>
        <mesh filename="package://iai_kuka_lwr4_description/meshes/convex/arm_segment_last_convex.stl"/>
      </geometry>
    </collision>
  </link>
  <gazebo reference="left_arm_5_link">
    <material value="kuka-lwr.material"/>
  </gazebo>
  <transmission name="left_arm_4_trans" type="pr2_mechanism_model/SimpleTransmission">
    <actuator name="left_arm_4_motor"/>
    <joint name="left_arm_4_joint"/>
    <mechanicalReduction>1.0</mechanicalReduction>
  </transmission>
  <joint name="left_arm_5_joint" type="revolute">
    <origin rpy="0 0 0" xyz="0 0 0.19"/>
    <axis xyz="0 -1 0"/>
    <limit effort="306" lower="-2.00712863979" upper="2.00712863979" velocity="3.14159265359"/>
    <safety_controller k_position="100" k_velocity="2" soft_lower_limit="-1.97222205475" soft_upper_limit="1.97222205475"/>
    <dynamics damping="0.1"/>
    <calibration rising="0.0"/>
    <parent link="left_arm_5_link"/>
    <child link="left_arm_6_link"/>
  </joint>
  <link name="left_arm_6_link">
    <inertial>
      <mass value="2.0"/>
      <origin rpy="0 0 0" xyz="0 0 0.0625"/>
      <inertia ixx="0.00520833333333" ixy="0" ixz="0" iyy="0.00520833333333" iyz="0" izz="0.00520833333333"/>
    </inertial>
    <visual>
      <origin rpy="0 0 3.14159265359" xyz="0 0 0"/>
      <geometry>
        <mesh filename="package://iai_kuka_lwr4_description/meshes/arm_wrist.dae" scale="1 1 1"/>
        <!--mesh filename="package://iai_kuka_lwr4_description/meshes/arm_wrist.stl" scale="1 1 1"/-->
      </geometry>
      <material name="Grey"/>
    </visual>
    <collision>
      <origin rpy="0 0 3.14159265359" xyz="0 0 0"/>
      <geometry>
        <mesh filename="package://iai_kuka_lwr4_description/meshes/convex/arm_wrist_convex.stl"/>
      </geometry>
    </collision>
  </link>
  <gazebo reference="left_arm_6_link">
    <material value="kuka-lwr.material"/>
  </gazebo>
  <transmission name="left_arm_5_trans" type="pr2_mechanism_model/SimpleTransmission">
    <actuator name="left_arm_5_motor"/>
    <joint name="left_arm_5_joint"/>
    <mechanicalReduction>1.0</mechanicalReduction>
  </transmission>
  <joint name="left_arm_6_joint" type="revolute">
    <origin rpy="0 0 0" xyz="0 0 0"/>
    <axis xyz="0 0 1"/>
    <limit effort="204" lower="-2.61799387799" upper="2.61799387799" velocity="3.14159265359"/>
    <safety_controller k_position="100" k_velocity="2" soft_lower_limit="-2.58308729295" soft_upper_limit="2.58308729295"/>
    <dynamics damping="0.1"/>
    <calibration rising="0.0"/>
    <parent link="left_arm_6_link"/>
    <child link="left_arm_7_link"/>
  </joint>
  <link name="left_arm_7_link">
    <inertial>
      <mass value="2.0"/>
      <origin xyz="0 0 0"/>
      <inertia ixx="0.333333333333" ixy="0" ixz="0" iyy="0.333333333333" iyz="0" izz="0.333333333333"/>
    </inertial>
    <visual>
      <origin rpy="0 0 0" xyz="0 0 0.078"/>
      <geometry>
        <mesh filename="package://iai_kuka_lwr4_description/meshes/arm_flanche.dae" scale="1 1 1"/>
        <!--mesh filename="package://iai_kuka_lwr4_description/meshes/arm_flanche.stl" scale="1 1 1"/-->
      </geometry>
      <material name="Black"/>
    </visual>
    <collision>
      <origin rpy="0 0 0" xyz="0 0 0.078"/>
      <geometry>
        <mesh filename="package://iai_kuka_lwr4_description/meshes/convex/arm_flanche_convex.stl"/>
      </geometry>
    </collision>
  </link>
  <gazebo reference="left_arm_7_link">
    <material value="kuka-lwr.material"/>
  </gazebo>
  <transmission name="left_arm_6_trans" type="pr2_mechanism_model/SimpleTransmission">
    <actuator name="left_arm_6_motor"/>
    <joint name="left_arm_6_joint"/>
    <mechanicalReduction>1.0</mechanicalReduction>
  </transmission>
  <!--arm_7_link has the same pose as the TCP defined in the DLR Beasty controller:
       Center of the potato, with z-coming out towards the flange, and y going towards joint #6 -->
  <joint name="left_arm_flange_joint" type="fixed">
    <origin rpy="0 0 0" xyz="0 0 0.078"/>
    <parent link="left_arm_7_link"/>
    <child link="left_arm_flange_link"/>
  </joint>
  <link name="left_arm_flange_link">
    <inertial>
      <mass value="0.5"/>
      <origin rpy="0 0 0" xyz="0 0 0"/>
      <inertia ixx="0.0833333333333" ixy="0" ixz="0" iyy="0.0833333333333" iyz="0" izz="0.0833333333333"/>
    </inertial>
  </link>
  <joint name="left_arm_arm_cabling_adaptor_joint" type="fixed">
    <origin rpy="0 0 0" xyz="0 0 0.01"/>
    <!--origin xyz="0 0 0.01" rpy="0 0 0"/-->
    <!-- This places the link at the end of the plate (frame_out) -->
    <parent link="left_arm_flange_link"/>
    <child link="left_arm_cabling_adaptor_link"/>
  </joint>
  <link name="left_arm_cabling_adaptor_link">
    <visual>
      <origin rpy="0 0 0" xyz="0 0 -0.005"/>
      <!-- The cylinder is placed at the center -->
      <geometry>
        <cylinder length="0.01" radius="0.0315"/>
      </geometry>
      <material name="Black">
        <color rgba="0 0 0 1.0"/>
      </material>
    </visual>
  </link>
  <!-- The following URDFs have frame_in / frame_out, so they are simply placed at their parent -->
  <!-- Joint connecting the parent to our frame_in -->
  <joint name="left_arm_adapter_iso50_kms40_joint" type="fixed">
    <origin rpy="0 0 3.14159265359" xyz="0 0 0"/>
    <parent link="left_arm_cabling_adaptor_link"/>
    <child link="left_arm_adapter_iso50_kms40_frame_in"/>
  </joint>
  <!-- link for the adapter plate -->
  <link name="left_arm_adapter_iso50_kms40_frame_in">
    <visual>
      <origin rpy="0 0 0" xyz="0 0 0"/>
      <geometry>
        <mesh filename="package://iai_kms_40_description/meshes/adapter_plate_iso50_kms40_weiss.stl" scale="0.001 0.001 0.001"/>
      </geometry>
      <material name="Grey"/>
    </visual>
  </link>
  <!-- Empty link just to get the frame out -->
  <link name="left_arm_adapter_iso50_kms40_frame_out"/>
  <!-- joint positioning the frame_out -->
  <joint name="left_arm_adapter_iso50_kms40_trans_frame_out" type="fixed">
    <origin rpy="0 0 0" xyz="0 0 0.016"/>
    <parent link="left_arm_adapter_iso50_kms40_frame_in"/>
    <child link="left_arm_adapter_iso50_kms40_frame_out"/>
    <axis xyz="0 0 0"/>
  </joint>
  <!-- Now joint connecting the actual kms40 sensor -->
  <joint name="left_arm_kms40_joint" type="fixed">
    <origin rpy="0 0 0" xyz="0 0 0"/>
    <parent link="left_arm_adapter_iso50_kms40_frame_out"/>
    <child link="left_arm_kms40_frame_in"/>
  </joint>
  <!-- Link for the kms40 sensor-->
  <link name="left_arm_kms40_frame_in">
    <visual>
      <origin rpy="0 0 0" xyz="0 0 0"/>
      <geometry>
        <mesh filename="package://iai_kms_40_description/meshes/kms40_simple.stl" scale="0.001 0.001 0.001"/>
      </geometry>
      <material name="Grey"/>
    </visual>
  </link>
  <!-- Empty link just to get the frame out -->
  <!-- This is also the reference frame for the force/torque data -->
  <link name="left_arm_kms40_frame_out"/>
  <!-- joint positioning the frame_out -->
  <joint name="left_arm_kms40_trans_frame_out" type="fixed">
    <origin rpy="0 0 0" xyz="0 0 0.027"/>
    <parent link="left_arm_kms40_frame_in"/>
    <child link="left_arm_kms40_frame_out"/>
    <axis xyz="0 0 0"/>
  </joint>
  <!-- Joint connecting the parent to our frame_in -->
  <joint name="left_arm_adapter_kms40_fwk050_in_joint" type="fixed">
    <origin rpy="0 0 0" xyz="0 0 0"/>
    <parent link="left_arm_kms40_frame_out"/>
    <child link="left_arm_adapter_kms40_fwk050_frame_in"/>
  </joint>
  <link name="left_arm_adapter_kms40_fwk050_frame_in">
    <visual>
      <origin rpy="0 0 0" xyz="0 0 0"/>
      <geometry>
        <!-- these meshes were exported in mm, so scale back to m -->
        <mesh filename="package://iai_adapters_description/meshes/adapter_kms40_fwk050.stl" scale="0.001 0.001 0.001"/>
      </geometry>
      <material name="Grey"/>
    </visual>
  </link>
  <!-- Empty link just to get the frame out -->
  <link name="left_arm_adapter_kms40_fwk050_frame_out"/>
  <!-- joint positioning the frame_out -->
  <joint name="left_arm_adapter_kms40_fwk050_trans_frame_out" type="fixed">
    <origin rpy="0 0 0" xyz="0 0 0.01"/>
    <parent link="left_arm_adapter_kms40_fwk050_frame_in"/>
    <child link="left_arm_adapter_kms40_fwk050_frame_out"/>
    <axis xyz="0 0 0"/>
  </joint>
  <!-- The joint connecting us to the next part of the chain is in the next URDF -->
  <!-- Joint connecting the parent to our frame_in -->
  <joint name="left_arm_fwk_fwa_050_in_joint" type="fixed">
    <origin rpy="0 0 0" xyz="0 0 0"/>
    <parent link="left_arm_adapter_kms40_fwk050_frame_out"/>
    <child link="left_arm_fwk_fwa_050_frame_in"/>
  </joint>
  <link name="left_arm_fwk_fwa_050_frame_in">
    <visual>
      <origin rpy="0 0 0" xyz="0 0 0"/>
      <geometry>
        <!-- these meshes were exported in mm, so scale back to m -->
        <mesh filename="package://iai_adapters_description/meshes/fwk_fwa_050_simple.stl" scale="0.001 0.001 0.001"/>
      </geometry>
      <material name="Grey"/>
    </visual>
  </link>
  <!-- Empty link just to get the frame out -->
  <link name="left_arm_fwk_fwa_050_frame_out"/>
  <!-- joint positioning the frame_out -->
  <joint name="left_arm_fwk_fwa_050_trans_frame_out" type="fixed">
    <origin rpy="0 0 0" xyz="0 0 0.0141"/>
    <parent link="left_arm_fwk_fwa_050_frame_in"/>
    <child link="left_arm_fwk_fwa_050_frame_out"/>
    <axis xyz="0 0 0"/>
  </joint>
  <!-- The joint connecting us to the next part of the chain is in the next URDF -->
  <!-- Joint connecting the parent to our frame_in -->
  <joint name="left_arm_adapter_fwa050_wsg50_in_joint" type="fixed">
    <origin rpy="0 0 0" xyz="0 0 0.0"/>
    <parent link="left_arm_fwk_fwa_050_frame_out"/>
    <child link="left_arm_adapter_fwa050_wsg50_frame_in"/>
  </joint>
  <link name="left_arm_adapter_fwa050_wsg50_frame_in">
    <visual>
      <origin rpy="0 0 0" xyz="0 0 0"/>
      <geometry>
        <!-- these meshes were exported in mm, so scale back to m -->
        <mesh filename="package://iai_adapters_description/meshes/adapter_fwa050_wsg50.stl" scale="0.001 0.001 0.001"/>
      </geometry>
      <material name="Grey"/>
    </visual>
  </link>
  <!-- Empty link just to get the frame out -->
  <link name="left_arm_adapter_fwa050_wsg50_frame_out"/>
  <!-- joint positioning the frame_out -->
  <joint name="left_arm_adapter_fwa050_wsg50_trans_frame_out" type="fixed">
    <origin rpy="0 0 0" xyz="0 0 0.01"/>
    <parent link="left_arm_adapter_fwa050_wsg50_frame_in"/>
    <child link="left_arm_adapter_fwa050_wsg50_frame_out"/>
    <axis xyz="0 0 0"/>
  </joint>
  <!-- The joint connecting us to the next part of the chain is in the next URDF -->
  <joint name="left_gripper_anterior_gripper_joint" type="fixed">
    <origin rpy="0 0 3.14159265359" xyz="0 0 0"/>
    <parent link="left_arm_adapter_fwa050_wsg50_frame_out"/>
    <child link="left_gripper_base_link"/>
  </joint>
  <!-- BASE LINK -->
  <link name="left_gripper_base_link">
    <inertial>
      <mass value="0.25"/>
      <origin xyz="0 0 0"/>
      <!--inertia ixx="1.0" ixy="0.0" ixz="0.0"
               iyy="100.0" iyz="0.0" 
               izz="1.0" /-->
      <inertia ixx="1.0" ixy="0.0" ixz="0.0" iyy="1.0" iyz="0.0" izz="1.0"/>
    </inertial>
    <visual>
      <origin rpy="0 0 0" xyz="0.0 0 0"/>
      <geometry>
        <mesh filename="package://iai_wsg_50_description/meshes/WSG50_110.stl" scale="1 1 1"/>
        <!--box size="0.146 0.05 0.0735"/-->
      </geometry>
      <material name="grey">
        <color rgba="0.5 0.5 0.5 1"/>
      </material>
    </visual>
    <collision>
      <origin rpy="0 0 0" xyz="0.0 0 0"/>
      <geometry>
        <!--box size="0.146 0.05 0.0735"/-->
        <mesh filename="package://iai_wsg_50_description/meshes/WSG50_110.stl" scale="1 1 1"/>
      </geometry>
    </collision>
  </link>
  <gazebo reference="left_gripper_base_link">
    <material>Gazebo/Grey</material>
    <turnGravityOff>false</turnGravityOff>
  </gazebo>
  <!-- GRIPPER LEFT -->
  <joint name="left_gripper_base_gripper_left_joint" type="prismatic">
    <limit effort="1.0" lower="-0.055" upper="-0.0027" velocity="0.42"/>
    <origin rpy="0 0 0" xyz="0 0 0"/>
    <!--origin xyz="-0.0067 0 0.049" rpy="0 0 0" /-->
    <parent link="left_gripper_base_link"/>
    <child link="left_gripper_gripper_left_link"/>
    <dynamics damping="100" friction="100"/>
    <axis xyz="1 0 0"/>
    <!-- <limit effort="100" velocity="100"/> -->
  </joint>
  <transmission name="left_gripper_base_trans_left" type="pr2_mechanism_model/SimpleTransmission">
    <actuator name="left_gripper_base_motor_left"/>
    <joint name="left_gripper_base_gripper_left_joint"/>
    <mechanicalReduction>1</mechanicalReduction>
    <motorTorqueConstant>1</motorTorqueConstant>
  </transmission>
  <link name="left_gripper_gripper_left_link">
    <inertial>
      <mass value="0.1"/>
      <origin xyz="0 0 0"/>
      <inertia ixx="1.0" ixy="0.0" ixz="0.0" iyy="1.0" iyz="0.0" izz="1.0"/>
    </inertial>
    <visual>
      <origin rpy="0 0 0" xyz="0.0 0 0"/>
      <geometry>
        <mesh filename="package://iai_wsg_50_description/meshes/GUIDE_WSG50_110.stl" scale="0.001 0.001 0.001"/>
        <!--box size="0.0175 0.03 0.024"/-->
      </geometry>
      <material name="black">
        <color rgba="0 0 0 1"/>
      </material>
    </visual>
    <collision>
      <origin rpy="0 0 0" xyz="0 0 0"/>
      <geometry>
        <!--box size="0.0175 0.03 0.024"/-->
        <mesh filename="package://iai_wsg_50_description/meshes/GUIDE_WSG50_110.stl" scale="0.001 0.001 0.001"/>
      </geometry>
    </collision>
    <contact_coefficients kd="1.0" kp="1000.0" mu="0"/>
  </link>
  <gazebo reference="left_gripper_gripper_left_link">
    <material>Gazebo/Blue</material>
    <turnGravityOff>false</turnGravityOff>
  </gazebo>
  <!-- LEFT FINGER -->
  <joint name="left_gripper_guide_joint_finger_left" type="fixed">
    <origin rpy="0 0 0" xyz="0 0 0.023"/>
    <parent link="left_gripper_gripper_left_link"/>
    <child link="left_gripper_finger_left_link"/>
    <dynamics damping="100" friction="100"/>
    <axis xyz="1 0 0"/>
    <!-- <limit effort="100" velocity="100"/> -->
  </joint>
  <link name="left_gripper_finger_left_link">
    <inertial>
      <mass value="0.1"/>
      <origin xyz="0 0 0"/>
      <inertia ixx="1.0" ixy="0.0" ixz="0.0" iyy="1.0" iyz="0.0" izz="1.0"/>
    </inertial>
    <visual>
      <origin rpy="0 0 0" xyz="0.0 0 0"/>
      <geometry>
        <mesh filename="package://iai_wsg_50_description/meshes/WSG-FMF.stl" scale="0.001 0.001 0.001"/>
      </geometry>
      <material name="black">
        <color rgba="0 0 0 1"/>
      </material>
    </visual>
    <collision>
      <origin rpy="0 0 0" xyz="0 0 0"/>
      <geometry>
        <mesh filename="package://iai_wsg_50_description/meshes/WSG-FMF.stl" scale="0.001 0.001 0.001"/>
      </geometry>
    </collision>
    <contact_coefficients kd="1.0" kp="1000.0" mu="0"/>
  </link>
  <gazebo reference="left_gripper_finger_left">
    <material>Gazebo/Blue</material>
    <turnGravityOff>false</turnGravityOff>
  </gazebo>
  <!-- GRIPPER RIGHT -->
  <joint name="left_gripper_base_gripper_right_joint" type="prismatic">
    <limit effort="1.0" lower="0.0027" upper="0.055" velocity="0.42"/>
    <origin rpy="0 0 3.14159" xyz="0 0 0"/>
    <parent link="left_gripper_base_link"/>
    <child link="left_gripper_gripper_right_link"/>
    <axis xyz="-1 0 0"/>
    <dynamics damping="100" friction="100"/>
    <!-- <limit effort="100" velocity="100"/>-->
  </joint>
  <transmission name="left_gripper_base_trans_right" type="pr2_mechanism_model/SimpleTransmission">
    <actuator name="left_gripper_base_motor_right"/>
    <joint name="left_gripper_base_gripper_right_joint"/>
    <mechanicalReduction>1</mechanicalReduction>
    <motorTorqueConstant>1</motorTorqueConstant>
  </transmission>
  <link name="left_gripper_gripper_right_link">
    <inertial>
      <mass value="0.1"/>
      <origin xyz="0 0 0"/>
      <inertia ixx="1.0" ixy="0.0" ixz="0.0" iyy="1.0" iyz="0.0" izz="1.0"/>
    </inertial>
    <visual>
      <origin rpy="0 0 0" xyz="0.0 0 0"/>
      <geometry>
        <mesh filename="package://iai_wsg_50_description/meshes/GUIDE_WSG50_110.stl" scale="0.001 0.001 0.001"/>
        <!--box size="0.0175 0.03 0.024"/-->
      </geometry>
      <material name="black">
        <color rgba="0 0 0 1"/>
      </material>
    </visual>
    <collision>
      <origin rpy="0 0 0" xyz="0 0 0"/>
      <geometry>
        <!--box size="0.0175 0.03 0.024"/-->
        <mesh filename="package://iai_wsg_50_description/meshes/GUIDE_WSG50_110.stl" scale="0.001 0.001 0.001"/>
      </geometry>
    </collision>
    <contact_coefficients kd="1.0" kp="1000.0" mu="0"/>
  </link>
  <gazebo reference="gripper_right">
    <material>Gazebo/White</material>
    <turnGravityOff>false</turnGravityOff>
  </gazebo>
  <!-- RIGHT FINGER -->
  <joint name="left_gripper_guide_joint_finger_right" type="fixed">
    <origin rpy="0 0 0" xyz="0 0 0.023"/>
    <parent link="left_gripper_gripper_right_link"/>
    <child link="left_gripper_finger_right_link"/>
  </joint>
  <link name="left_gripper_finger_right_link">
    <inertial>
      <mass value="0.1"/>
      <origin xyz="0 0 0"/>
      <inertia ixx="1.0" ixy="0.0" ixz="0.0" iyy="1.0" iyz="0.0" izz="1.0"/>
    </inertial>
    <visual>
      <origin rpy="0 0 0" xyz="0.0 0 0"/>
      <geometry>
        <mesh filename="package://iai_wsg_50_description/meshes/WSG-FMF.stl" scale="0.001 0.001 0.001"/>
      </geometry>
      <material name="black">
        <color rgba="0 0 0 1"/>
      </material>
    </visual>
    <collision>
      <origin rpy="0 0 0" xyz="0 0 0"/>
      <geometry>
        <mesh filename="package://iai_wsg_50_description/meshes/WSG-FMF.stl" scale="0.001 0.001 0.001"/>
      </geometry>
    </collision>
    <contact_coefficients kd="1.0" kp="1000.0" mu="0"/>
  </link>
  <gazebo reference="left_gripper_finger_right">
    <material>Gazebo/White</material>
    <turnGravityOff>false</turnGravityOff>
  </gazebo>
  <link name="left_gripper_tool_frame"/>
  <joint name="left_gripper_tool_frame_joint" type="fixed">
    <origin rpy="0 0 0" xyz="0 0 0.154"/>
    <parent link="left_gripper_base_link"/>
    <child link="left_gripper_tool_frame"/>
  </joint>
  <link name="left_wrist_optical_frame_x">
    <inertial>
      <mass value="1"/>
      <origin xyz="0 0 0"/>
      <inertia ixx="0.01" ixy="0" ixz="0" iyy="0.01" iyz="0" izz="0.01"/>
    </inertial>
    <visual>
      <origin rpy="0 0 0" xyz="0 0 0"/>
      <geometry>
        <box size="0.01 0.01 0.01"/>
      </geometry>
      <material name="White"/>
    </visual>
    <collision>
      <origin rpy="0 0 0" xyz="0 0 0.0"/>
      <geometry>
        <box size="0.001 0.001 0.001"/>
      </geometry>
    </collision>
  </link>
  <!-- JOINT to define base_footprint -->
  <joint name="left_wrist_optical_joint_x" type="fixed">
    <origin rpy="0.007552 6.274592 3.141201" xyz="0.000836 -0.053028 0.073603"/>
    <parent link="left_gripper_base_link"/>
    <child link="left_wrist_optical_frame_x"/>
  </joint>
  <!-- /JOINT for base_footprint -->
  <link name="left_wrist_optical_frame">
    <inertial>
      <mass value="1"/>
      <origin xyz="0 0 0"/>
      <inertia ixx="0.01" ixy="0" ixz="0" iyy="0.01" iyz="0" izz="0.01"/>
    </inertial>
    <visual>
      <origin rpy="0 0 0" xyz="0 0 0"/>
      <geometry>
        <box size="0.01 0.01 0.01"/>
      </geometry>
      <material name="White"/>
    </visual>
    <collision>
      <origin rpy="0 0 0" xyz="0 0 0.0"/>
      <geometry>
        <box size="0.001 0.001 0.001"/>
      </geometry>
    </collision>
  </link>
  <!-- JOINT to define base_footprint -->
  <joint name="left_wrist_optical_joint" type="fixed">
    <origin rpy="0.0 0.0 3.141519" xyz="0.0 0.0 0.0"/>
    <parent link="left_wrist_optical_frame_x"/>
    <child link="left_wrist_optical_frame"/>
  </joint>
  <!-- /JOINT for base_footprint -->
  <!--wsg_50_xacro name="left_gripper" parent="left_arm_cabling_adaptor_link">
          <origin xyz="0 0 0" rpy="0 0 2.35619183661"/>
	</wsg_50_xacro-->
  <!--This is a 60deg rotation to calib_right_arm_base_link -->
  <joint name="triangle_right_arm_link_right_arm_base_joint" type="fixed">
    <origin rpy="0 0 -1.047198" xyz="0 0 0"/>
    <parent link="triangle_right_arm_link"/>
    <child link="calib_right_arm_base_link"/>
  </joint>
  <link name="calib_right_arm_base_link">
    <inertial>
      <mass value="2.0"/>
      <origin rpy="0 0 0" xyz="0 0 0.055"/>
      <inertia ixx="0.00381666666667" ixy="0" ixz="0" iyy="0.0036" iyz="0" izz="0.00381666666667"/>
    </inertial>
    <visual>
      <origin rpy="0 0 0" xyz="0 0 0"/>
      <geometry>
        <!-- for each mesh we have two versions, one Collada file with normals and colors, and one simpler STL. The collada file is in cm, and the STL in meters -->
        <mesh filename="package://iai_kuka_lwr4_description/meshes/arm_base.dae" scale="1 1 1"/>
        <!--mesh filename="package://iai_kuka_lwr4_description/meshes/arm_base.stl" scale="1 1 1"-->
      </geometry>
      <!--material name="UniHB-Red"/-->
    </visual>
    <collision>
      <origin rpy="0 0 0" xyz="0 0 0"/>
      <geometry>
        <mesh filename="package://iai_kuka_lwr4_description/meshes/convex/arm_base_convex.stl"/>
      </geometry>
    </collision>
  </link>
  <gazebo reference="calib_right_arm_base_link">
    <material value="kuka-lwr.material"/>
  </gazebo>
  <joint name="right_arm_0_joint" type="revolute">
    <origin rpy="0 0 0" xyz="0 0 0.11"/>
    <axis xyz="0 0 1"/>
    <limit effort="204" lower="-2.61799387799" upper="2.61799387799" velocity="1.91986217719"/>
    <safety_controller k_position="100" k_velocity="2" soft_lower_limit="-2.58308729295" soft_upper_limit="2.58308729295"/>
    <dynamics damping="0.1"/>
    <calibration rising="0.0"/>
    <parent link="calib_right_arm_base_link"/>
    <child link="right_arm_1_link"/>
  </joint>
  <link name="right_arm_1_link">
    <inertial>
      <mass value="2.0"/>
      <origin rpy="0 0 0" xyz="0 0 0.130"/>
      <inertia ixx="0.0136666666667" ixy="0" ixz="0" iyy="0.003" iyz="0" izz="0.0118666666667"/>
    </inertial>
    <visual>
      <origin rpy="0 0 3.14159265359" xyz="0 0 0"/>
      <geometry>
        <mesh filename="package://iai_kuka_lwr4_description/meshes/arm_segment_a.dae" scale="1 1 1"/>
        <!--mesh filename="package://iai_kuka_lwr4_description/meshes/arm_segment_a.stl" scale="1 1 1"/-->
      </geometry>
      <!--material name="UniHB-Red"/-->
    </visual>
    <collision>
      <origin rpy="0 0 3.14159265359" xyz="0 0 0"/>
      <geometry>
        <mesh filename="package://iai_kuka_lwr4_description/meshes/convex/arm_segment_a_convex.stl"/>
      </geometry>
    </collision>
  </link>
  <gazebo reference="right_arm_1_link">
    <material value="kuka-lwr.material"/>
  </gazebo>
  <transmission name="right_arm_0_trans" type="pr2_mechanism_model/SimpleTransmission">
    <actuator name="right_arm_0_motor"/>
    <joint name="right_arm_0_joint"/>
    <mechanicalReduction>1.0</mechanicalReduction>
  </transmission>
  <joint name="right_arm_1_joint" type="revolute">
    <origin rpy="0 0 0" xyz="0 0 0.20"/>
    <axis xyz="0 -1 0"/>
    <limit effort="306" lower="-1.86750229963" upper="1.86750229963" velocity="1.91986217719"/>
    <safety_controller k_position="100" k_velocity="2" soft_lower_limit="-1.83259571459" soft_upper_limit="1.83259571459"/>
    <dynamics damping="0.1"/>
    <calibration rising="0.0"/>
    <parent link="right_arm_1_link"/>
    <child link="right_arm_2_link"/>
  </joint>
  <link name="right_arm_2_link">
    <inertial>
      <mass value="2.0"/>
      <origin rpy="0 0 0" xyz="0 0.06 0.07"/>
      <inertia ixx="0.0136666666667" ixy="0" ixz="0" iyy="0.003" iyz="0" izz="0.0118666666667"/>
    </inertial>
    <visual>
      <origin rpy="3.14159265359 0 3.14159265359" xyz="0 0 0.2"/>
      <geometry>
        <mesh filename="package://iai_kuka_lwr4_description/meshes/arm_segment_b.dae" scale="1 1 1"/>
        <!--mesh filename="package://iai_kuka_lwr4_description/meshes/arm_segment_b.stl" scale="1 1 1"/-->
      </geometry>
      <!--material name="UniHB-Red"/-->
    </visual>
    <collision>
      <origin rpy="3.14159265359 0 3.14159265359" xyz="0 0 0.2"/>
      <geometry>
        <mesh filename="package://iai_kuka_lwr4_description/meshes/convex/arm_segment_b_convex.stl"/>
      </geometry>
    </collision>
  </link>
  <gazebo reference="right_arm_2_link">
    <material value="kuka-lwr.material"/>
  </gazebo>
  <transmission name="right_arm_1_trans" type="pr2_mechanism_model/SimpleTransmission">
    <actuator name="right_arm_1_motor"/>
    <joint name="right_arm_1_joint"/>
    <mechanicalReduction>1.0</mechanicalReduction>
  </transmission>
  <joint name="right_arm_2_joint" type="revolute">
    <origin rpy="0 0 0" xyz="0 0 0.20"/>
    <axis xyz="0 0 1"/>
    <limit effort="204" lower="-2.61799387799" upper="2.61799387799" velocity="2.26892802759"/>
    <safety_controller k_position="100" k_velocity="2" soft_lower_limit="-2.58308729295" soft_upper_limit="2.58308729295"/>
    <dynamics damping="0.1"/>
    <calibration rising="0.0"/>
    <parent link="right_arm_2_link"/>
    <child link="right_arm_3_link"/>
  </joint>
  <link name="right_arm_3_link">
    <inertial>
      <mass value="2.0"/>
      <origin rpy="0 0 0" xyz="0 0.06 0.130"/>
      <inertia ixx="0.0136666666667" ixy="0" ixz="0" iyy="0.003" iyz="0" izz="0.0118666666667"/>
    </inertial>
    <visual>
      <origin rpy="0 0 0" xyz="0 0 0"/>
      <geometry>
        <mesh filename="package://iai_kuka_lwr4_description/meshes/arm_segment_a.dae" scale="1 1 1"/>
        <!--mesh filename="package://iai_kuka_lwr4_description/meshes/arm_segment_a.stl" scale="1 1 1"/-->
      </geometry>
      <!--material name="UniHB-Red"/-->
    </visual>
    <collision>
      <origin rpy="0 0 0" xyz="0 0 0"/>
      <geometry>
        <mesh filename="package://iai_kuka_lwr4_description/meshes/convex/arm_segment_a_convex.stl"/>
      </geometry>
    </collision>
  </link>
  <gazebo reference="right_arm_3_link">
    <material value="kuka-lwr.material"/>
  </gazebo>
  <transmission name="right_arm_2_trans" type="pr2_mechanism_model/SimpleTransmission">
    <actuator name="right_arm_2_motor"/>
    <joint name="right_arm_2_joint"/>
    <mechanicalReduction>1.0</mechanicalReduction>
  </transmission>
  <joint name="right_arm_3_joint" type="revolute">
    <origin rpy="0 0 0" xyz="0 0 0.20"/>
    <axis xyz="0 1 0"/>
    <limit effort="306" lower="-1.86750229963" upper="1.86750229963" velocity="2.26892802759"/>
    <safety_controller k_position="100" k_velocity="2" soft_lower_limit="-1.83259571459" soft_upper_limit="1.83259571459"/>
    <dynamics damping="0.1"/>
    <calibration rising="0.0"/>
    <parent link="right_arm_3_link"/>
    <child link="right_arm_4_link"/>
  </joint>
  <link name="right_arm_4_link">
    <inertial>
      <mass value="2.0"/>
      <origin rpy="0 0 0" xyz="0 -0.06 0.07"/>
      <inertia ixx="0.0136666666667" ixy="0" ixz="0" iyy="0.003" iyz="0" izz="0.0118666666667"/>
    </inertial>
    <visual>
      <origin rpy="0 3.14159265359 3.14159265359" xyz="0 0 0.2"/>
      <geometry>
        <mesh filename="package://iai_kuka_lwr4_description/meshes/arm_segment_b.dae" scale="1 1 1"/>
        <!--mesh filename="package://iai_kuka_lwr4_description/meshes/arm_segment_b.stl" scale="1 1 1"/-->
      </geometry>
      <!--material name="UniHB-Red"/-->
    </visual>
    <collision>
      <origin rpy="0 3.14159265359 3.14159265359" xyz="0 0 0.2"/>
      <geometry>
        <mesh filename="package://iai_kuka_lwr4_description/meshes/convex/arm_segment_b_convex.stl"/>
      </geometry>
    </collision>
  </link>
  <gazebo reference="right_arm_4_link">
    <material value="kuka-lwr.material"/>
  </gazebo>
  <transmission name="right_arm_3_trans" type="pr2_mechanism_model/SimpleTransmission">
    <actuator name="right_arm_3_motor"/>
    <joint name="right_arm_3_joint"/>
    <mechanicalReduction>1.0</mechanicalReduction>
  </transmission>
  <joint name="right_arm_4_joint" type="revolute">
    <origin rpy="0 0 0" xyz="0 0 0.20"/>
    <axis xyz="0 0 1"/>
    <limit effort="204" lower="-2.61799387799" upper="2.61799387799" velocity="2.26892802759"/>
    <safety_controller k_position="100" k_velocity="2" soft_lower_limit="-2.58308729295" soft_upper_limit="2.58308729295"/>
    <dynamics damping="0.1"/>
    <calibration rising="0.0"/>
    <parent link="right_arm_4_link"/>
    <child link="right_arm_5_link"/>
  </joint>
  <link name="right_arm_5_link">
    <inertial>
      <mass value="2.0"/>
      <origin rpy="0 0 0" xyz="0 0 0.124"/>
      <inertia ixx="0.0126506666667" ixy="0" ixz="0" iyy="0.003" iyz="0" izz="0.0108506666667"/>
    </inertial>
    <visual>
      <origin rpy="0 0 3.14159265359" xyz="0 0 0"/>
      <geometry name="right_arm_5_geom">
        <mesh filename="package://iai_kuka_lwr4_description/meshes/arm_segment_last.dae" scale="1 1 1"/>
        <!--mesh filename="package://iai_kuka_lwr4_description/meshes/arm_segment_last.stl" scale="1 1 1"/-->
      </geometry>
      <!--material name="UniHB-Red"/-->
    </visual>
    <collision>
      <origin rpy="0 0 3.14159265359" xyz="0 0 0"/>
      <geometry>
        <mesh filename="package://iai_kuka_lwr4_description/meshes/convex/arm_segment_last_convex.stl"/>
      </geometry>
    </collision>
  </link>
  <gazebo reference="right_arm_5_link">
    <material value="kuka-lwr.material"/>
  </gazebo>
  <transmission name="right_arm_4_trans" type="pr2_mechanism_model/SimpleTransmission">
    <actuator name="right_arm_4_motor"/>
    <joint name="right_arm_4_joint"/>
    <mechanicalReduction>1.0</mechanicalReduction>
  </transmission>
  <joint name="right_arm_5_joint" type="revolute">
    <origin rpy="0 0 0" xyz="0 0 0.19"/>
    <axis xyz="0 -1 0"/>
    <limit effort="306" lower="-2.00712863979" upper="2.00712863979" velocity="3.14159265359"/>
    <safety_controller k_position="100" k_velocity="2" soft_lower_limit="-1.97222205475" soft_upper_limit="1.97222205475"/>
    <dynamics damping="0.1"/>
    <calibration rising="0.0"/>
    <parent link="right_arm_5_link"/>
    <child link="right_arm_6_link"/>
  </joint>
  <link name="right_arm_6_link">
    <inertial>
      <mass value="2.0"/>
      <origin rpy="0 0 0" xyz="0 0 0.0625"/>
      <inertia ixx="0.00520833333333" ixy="0" ixz="0" iyy="0.00520833333333" iyz="0" izz="0.00520833333333"/>
    </inertial>
    <visual>
      <origin rpy="0 0 3.14159265359" xyz="0 0 0"/>
      <geometry>
        <mesh filename="package://iai_kuka_lwr4_description/meshes/arm_wrist.dae" scale="1 1 1"/>
        <!--mesh filename="package://iai_kuka_lwr4_description/meshes/arm_wrist.stl" scale="1 1 1"/-->
      </geometry>
      <material name="Grey"/>
    </visual>
    <collision>
      <origin rpy="0 0 3.14159265359" xyz="0 0 0"/>
      <geometry>
        <mesh filename="package://iai_kuka_lwr4_description/meshes/convex/arm_wrist_convex.stl"/>
      </geometry>
    </collision>
  </link>
  <gazebo reference="right_arm_6_link">
    <material value="kuka-lwr.material"/>
  </gazebo>
  <transmission name="right_arm_5_trans" type="pr2_mechanism_model/SimpleTransmission">
    <actuator name="right_arm_5_motor"/>
    <joint name="right_arm_5_joint"/>
    <mechanicalReduction>1.0</mechanicalReduction>
  </transmission>
  <joint name="right_arm_6_joint" type="revolute">
    <origin rpy="0 0 0" xyz="0 0 0"/>
    <axis xyz="0 0 1"/>
    <limit effort="204" lower="-2.61799387799" upper="2.61799387799" velocity="3.14159265359"/>
    <safety_controller k_position="100" k_velocity="2" soft_lower_limit="-2.58308729295" soft_upper_limit="2.58308729295"/>
    <dynamics damping="0.1"/>
    <calibration rising="0.0"/>
    <parent link="right_arm_6_link"/>
    <child link="right_arm_7_link"/>
  </joint>
  <link name="right_arm_7_link">
    <inertial>
      <mass value="2.0"/>
      <origin xyz="0 0 0"/>
      <inertia ixx="0.333333333333" ixy="0" ixz="0" iyy="0.333333333333" iyz="0" izz="0.333333333333"/>
    </inertial>
    <visual>
      <origin rpy="0 0 0" xyz="0 0 0.078"/>
      <geometry>
        <mesh filename="package://iai_kuka_lwr4_description/meshes/arm_flanche.dae" scale="1 1 1"/>
        <!--mesh filename="package://iai_kuka_lwr4_description/meshes/arm_flanche.stl" scale="1 1 1"/-->
      </geometry>
      <material name="Black"/>
    </visual>
    <collision>
      <origin rpy="0 0 0" xyz="0 0 0.078"/>
      <geometry>
        <mesh filename="package://iai_kuka_lwr4_description/meshes/convex/arm_flanche_convex.stl"/>
      </geometry>
    </collision>
  </link>
  <gazebo reference="right_arm_7_link">
    <material value="kuka-lwr.material"/>
  </gazebo>
  <transmission name="right_arm_6_trans" type="pr2_mechanism_model/SimpleTransmission">
    <actuator name="right_arm_6_motor"/>
    <joint name="right_arm_6_joint"/>
    <mechanicalReduction>1.0</mechanicalReduction>
  </transmission>
  <!--arm_7_link has the same pose as the TCP defined in the DLR Beasty controller:
       Center of the potato, with z-coming out towards the flange, and y going towards joint #6 -->
  <joint name="right_arm_flange_joint" type="fixed">
    <origin rpy="0 0 0" xyz="0 0 0.078"/>
    <parent link="right_arm_7_link"/>
    <child link="right_arm_flange_link"/>
  </joint>
  <link name="right_arm_flange_link">
    <inertial>
      <mass value="0.5"/>
      <origin rpy="0 0 0" xyz="0 0 0"/>
      <inertia ixx="0.0833333333333" ixy="0" ixz="0" iyy="0.0833333333333" iyz="0" izz="0.0833333333333"/>
    </inertial>
  </link>
  <joint name="right_arm_arm_cabling_adaptor_joint" type="fixed">
    <origin rpy="0 0 0" xyz="0 0 0.01"/>
    <!--origin xyz="0 0 0.01" rpy="0 0 0"/-->
    <!-- This places the link at the end of the plate (frame_out) -->
    <parent link="right_arm_flange_link"/>
    <child link="right_arm_cabling_adaptor_link"/>
  </joint>
  <link name="right_arm_cabling_adaptor_link">
    <visual>
      <origin rpy="0 0 0" xyz="0 0 -0.005"/>
      <!-- The cylinder is placed at the center -->
      <geometry>
        <cylinder length="0.01" radius="0.0315"/>
      </geometry>
      <material name="Black">
        <color rgba="0 0 0 1.0"/>
      </material>
    </visual>
  </link>
  <!-- The following URDFs have frame_in / frame_out, so they are simply placed at their parent -->
  <!-- Joint connecting the parent to our frame_in -->
  <joint name="right_arm_adapter_iso50_kms40_joint" type="fixed">
    <origin rpy="0 0 3.14159265359" xyz="0 0 0"/>
    <parent link="right_arm_cabling_adaptor_link"/>
    <child link="right_arm_adapter_iso50_kms40_frame_in"/>
  </joint>
  <!-- link for the adapter plate -->
  <link name="right_arm_adapter_iso50_kms40_frame_in">
    <visual>
      <origin rpy="0 0 0" xyz="0 0 0"/>
      <geometry>
        <mesh filename="package://iai_kms_40_description/meshes/adapter_plate_iso50_kms40_weiss.stl" scale="0.001 0.001 0.001"/>
      </geometry>
      <material name="Grey"/>
    </visual>
  </link>
  <!-- Empty link just to get the frame out -->
  <link name="right_arm_adapter_iso50_kms40_frame_out"/>
  <!-- joint positioning the frame_out -->
  <joint name="right_arm_adapter_iso50_kms40_trans_frame_out" type="fixed">
    <origin rpy="0 0 0" xyz="0 0 0.016"/>
    <parent link="right_arm_adapter_iso50_kms40_frame_in"/>
    <child link="right_arm_adapter_iso50_kms40_frame_out"/>
    <axis xyz="0 0 0"/>
  </joint>
  <!-- Now joint connecting the actual kms40 sensor -->
  <joint name="right_arm_kms40_joint" type="fixed">
    <origin rpy="0 0 0" xyz="0 0 0"/>
    <parent link="right_arm_adapter_iso50_kms40_frame_out"/>
    <child link="right_arm_kms40_frame_in"/>
  </joint>
  <!-- Link for the kms40 sensor-->
  <link name="right_arm_kms40_frame_in">
    <visual>
      <origin rpy="0 0 0" xyz="0 0 0"/>
      <geometry>
        <mesh filename="package://iai_kms_40_description/meshes/kms40_simple.stl" scale="0.001 0.001 0.001"/>
      </geometry>
      <material name="Grey"/>
    </visual>
  </link>
  <!-- Empty link just to get the frame out -->
  <!-- This is also the reference frame for the force/torque data -->
  <link name="right_arm_kms40_frame_out"/>
  <!-- joint positioning the frame_out -->
  <joint name="right_arm_kms40_trans_frame_out" type="fixed">
    <origin rpy="0 0 0" xyz="0 0 0.027"/>
    <parent link="right_arm_kms40_frame_in"/>
    <child link="right_arm_kms40_frame_out"/>
    <axis xyz="0 0 0"/>
  </joint>
  <!-- Joint connecting the parent to our frame_in -->
  <joint name="right_arm_adapter_kms40_fwk050_in_joint" type="fixed">
    <origin rpy="0 0 0" xyz="0 0 0"/>
    <parent link="right_arm_kms40_frame_out"/>
    <child link="right_arm_adapter_kms40_fwk050_frame_in"/>
  </joint>
  <link name="right_arm_adapter_kms40_fwk050_frame_in">
    <visual>
      <origin rpy="0 0 0" xyz="0 0 0"/>
      <geometry>
        <!-- these meshes were exported in mm, so scale back to m -->
        <mesh filename="package://iai_adapters_description/meshes/adapter_kms40_fwk050.stl" scale="0.001 0.001 0.001"/>
      </geometry>
      <material name="Grey"/>
    </visual>
  </link>
  <!-- Empty link just to get the frame out -->
  <link name="right_arm_adapter_kms40_fwk050_frame_out"/>
  <!-- joint positioning the frame_out -->
  <joint name="right_arm_adapter_kms40_fwk050_trans_frame_out" type="fixed">
    <origin rpy="0 0 0" xyz="0 0 0.01"/>
    <parent link="right_arm_adapter_kms40_fwk050_frame_in"/>
    <child link="right_arm_adapter_kms40_fwk050_frame_out"/>
    <axis xyz="0 0 0"/>
  </joint>
  <!-- The joint connecting us to the next part of the chain is in the next URDF -->
  <!-- Joint connecting the parent to our frame_in -->
  <joint name="right_arm_fwk_fwa_050_in_joint" type="fixed">
    <origin rpy="0 0 0" xyz="0 0 0"/>
    <parent link="right_arm_adapter_kms40_fwk050_frame_out"/>
    <child link="right_arm_fwk_fwa_050_frame_in"/>
  </joint>
  <link name="right_arm_fwk_fwa_050_frame_in">
    <visual>
      <origin rpy="0 0 0" xyz="0 0 0"/>
      <geometry>
        <!-- these meshes were exported in mm, so scale back to m -->
        <mesh filename="package://iai_adapters_description/meshes/fwk_fwa_050_simple.stl" scale="0.001 0.001 0.001"/>
      </geometry>
      <material name="Grey"/>
    </visual>
  </link>
  <!-- Empty link just to get the frame out -->
  <link name="right_arm_fwk_fwa_050_frame_out"/>
  <!-- joint positioning the frame_out -->
  <joint name="right_arm_fwk_fwa_050_trans_frame_out" type="fixed">
    <origin rpy="0 0 0" xyz="0 0 0.0141"/>
    <parent link="right_arm_fwk_fwa_050_frame_in"/>
    <child link="right_arm_fwk_fwa_050_frame_out"/>
    <axis xyz="0 0 0"/>
  </joint>
  <!-- The joint connecting us to the next part of the chain is in the next URDF -->
  <!-- Joint connecting the parent to our frame_in -->
  <joint name="right_arm_adapter_fwa050_wsg50_in_joint" type="fixed">
    <origin rpy="0 0 0" xyz="0 0 0.0"/>
    <parent link="right_arm_fwk_fwa_050_frame_out"/>
    <child link="right_arm_adapter_fwa050_wsg50_frame_in"/>
  </joint>
  <link name="right_arm_adapter_fwa050_wsg50_frame_in">
    <visual>
      <origin rpy="0 0 0" xyz="0 0 0"/>
      <geometry>
        <!-- these meshes were exported in mm, so scale back to m -->
        <mesh filename="package://iai_adapters_description/meshes/adapter_fwa050_wsg50.stl" scale="0.001 0.001 0.001"/>
      </geometry>
      <material name="Grey"/>
    </visual>
  </link>
  <!-- Empty link just to get the frame out -->
  <link name="right_arm_adapter_fwa050_wsg50_frame_out"/>
  <!-- joint positioning the frame_out -->
  <joint name="right_arm_adapter_fwa050_wsg50_trans_frame_out" type="fixed">
    <origin rpy="0 0 0" xyz="0 0 0.01"/>
    <parent link="right_arm_adapter_fwa050_wsg50_frame_in"/>
    <child link="right_arm_adapter_fwa050_wsg50_frame_out"/>
    <axis xyz="0 0 0"/>
  </joint>
  <!-- The joint connecting us to the next part of the chain is in the next URDF -->
  <joint name="right_gripper_anterior_gripper_joint" type="fixed">
    <origin rpy="0 0 3.14159265359" xyz="0 0 0"/>
    <parent link="right_arm_adapter_fwa050_wsg50_frame_out"/>
    <child link="right_gripper_base_link"/>
  </joint>
  <!-- BASE LINK -->
  <link name="right_gripper_base_link">
    <inertial>
      <mass value="0.25"/>
      <origin xyz="0 0 0"/>
      <!--inertia ixx="1.0" ixy="0.0" ixz="0.0"
               iyy="100.0" iyz="0.0" 
               izz="1.0" /-->
      <inertia ixx="1.0" ixy="0.0" ixz="0.0" iyy="1.0" iyz="0.0" izz="1.0"/>
    </inertial>
    <visual>
      <origin rpy="0 0 0" xyz="0.0 0 0"/>
      <geometry>
        <mesh filename="package://iai_wsg_50_description/meshes/WSG50_110.stl" scale="1 1 1"/>
        <!--box size="0.146 0.05 0.0735"/-->
      </geometry>
      <material name="grey">
        <color rgba="0.5 0.5 0.5 1"/>
      </material>
    </visual>
    <collision>
      <origin rpy="0 0 0" xyz="0.0 0 0"/>
      <geometry>
        <!--box size="0.146 0.05 0.0735"/-->
        <mesh filename="package://iai_wsg_50_description/meshes/WSG50_110.stl" scale="1 1 1"/>
      </geometry>
    </collision>
  </link>
  <gazebo reference="right_gripper_base_link">
    <material>Gazebo/Grey</material>
    <turnGravityOff>false</turnGravityOff>
  </gazebo>
  <!-- GRIPPER LEFT -->
  <joint name="right_gripper_base_gripper_left_joint" type="prismatic">
    <limit effort="1.0" lower="-0.055" upper="-0.0027" velocity="0.42"/>
    <origin rpy="0 0 0" xyz="0 0 0"/>
    <!--origin xyz="-0.0067 0 0.049" rpy="0 0 0" /-->
    <parent link="right_gripper_base_link"/>
    <child link="right_gripper_gripper_left_link"/>
    <dynamics damping="100" friction="100"/>
    <axis xyz="1 0 0"/>
    <!-- <limit effort="100" velocity="100"/> -->
  </joint>
  <transmission name="right_gripper_base_trans_left" type="pr2_mechanism_model/SimpleTransmission">
    <actuator name="right_gripper_base_motor_left"/>
    <joint name="right_gripper_base_gripper_left_joint"/>
    <mechanicalReduction>1</mechanicalReduction>
    <motorTorqueConstant>1</motorTorqueConstant>
  </transmission>
  <link name="right_gripper_gripper_left_link">
    <inertial>
      <mass value="0.1"/>
      <origin xyz="0 0 0"/>
      <inertia ixx="1.0" ixy="0.0" ixz="0.0" iyy="1.0" iyz="0.0" izz="1.0"/>
    </inertial>
    <visual>
      <origin rpy="0 0 0" xyz="0.0 0 0"/>
      <geometry>
        <mesh filename="package://iai_wsg_50_description/meshes/GUIDE_WSG50_110.stl" scale="0.001 0.001 0.001"/>
        <!--box size="0.0175 0.03 0.024"/-->
      </geometry>
      <material name="black">
        <color rgba="0 0 0 1"/>
      </material>
    </visual>
    <collision>
      <origin rpy="0 0 0" xyz="0 0 0"/>
      <geometry>
        <!--box size="0.0175 0.03 0.024"/-->
        <mesh filename="package://iai_wsg_50_description/meshes/GUIDE_WSG50_110.stl" scale="0.001 0.001 0.001"/>
      </geometry>
    </collision>
    <contact_coefficients kd="1.0" kp="1000.0" mu="0"/>
  </link>
  <gazebo reference="right_gripper_gripper_left_link">
    <material>Gazebo/Blue</material>
    <turnGravityOff>false</turnGravityOff>
  </gazebo>
  <!-- LEFT FINGER -->
  <joint name="right_gripper_guide_joint_finger_left" type="fixed">
    <origin rpy="0 0 0" xyz="0 0 0.023"/>
    <parent link="right_gripper_gripper_left_link"/>
    <child link="right_gripper_finger_left_link"/>
    <dynamics damping="100" friction="100"/>
    <axis xyz="1 0 0"/>
    <!-- <limit effort="100" velocity="100"/> -->
  </joint>
  <link name="right_gripper_finger_left_link">
    <inertial>
      <mass value="0.1"/>
      <origin xyz="0 0 0"/>
      <inertia ixx="1.0" ixy="0.0" ixz="0.0" iyy="1.0" iyz="0.0" izz="1.0"/>
    </inertial>
    <visual>
      <origin rpy="0 0 0" xyz="0.0 0 0"/>
      <geometry>
        <mesh filename="package://iai_wsg_50_description/meshes/WSG-FMF.stl" scale="0.001 0.001 0.001"/>
      </geometry>
      <material name="black">
        <color rgba="0 0 0 1"/>
      </material>
    </visual>
    <collision>
      <origin rpy="0 0 0" xyz="0 0 0"/>
      <geometry>
        <mesh filename="package://iai_wsg_50_description/meshes/WSG-FMF.stl" scale="0.001 0.001 0.001"/>
      </geometry>
    </collision>
    <contact_coefficients kd="1.0" kp="1000.0" mu="0"/>
  </link>
  <gazebo reference="right_gripper_finger_left">
    <material>Gazebo/Blue</material>
    <turnGravityOff>false</turnGravityOff>
  </gazebo>
  <!-- GRIPPER RIGHT -->
  <joint name="right_gripper_base_gripper_right_joint" type="prismatic">
    <limit effort="1.0" lower="0.0027" upper="0.055" velocity="0.42"/>
    <origin rpy="0 0 3.14159" xyz="0 0 0"/>
    <parent link="right_gripper_base_link"/>
    <child link="right_gripper_gripper_right_link"/>
    <axis xyz="-1 0 0"/>
    <dynamics damping="100" friction="100"/>
    <!-- <limit effort="100" velocity="100"/>-->
  </joint>
  <transmission name="right_gripper_base_trans_right" type="pr2_mechanism_model/SimpleTransmission">
    <actuator name="right_gripper_base_motor_right"/>
    <joint name="right_gripper_base_gripper_right_joint"/>
    <mechanicalReduction>1</mechanicalReduction>
    <motorTorqueConstant>1</motorTorqueConstant>
  </transmission>
  <link name="right_gripper_gripper_right_link">
    <inertial>
      <mass value="0.1"/>
      <origin xyz="0 0 0"/>
      <inertia ixx="1.0" ixy="0.0" ixz="0.0" iyy="1.0" iyz="0.0" izz="1.0"/>
    </inertial>
    <visual>
      <origin rpy="0 0 0" xyz="0.0 0 0"/>
      <geometry>
        <mesh filename="package://iai_wsg_50_description/meshes/GUIDE_WSG50_110.stl" scale="0.001 0.001 0.001"/>
        <!--box size="0.0175 0.03 0.024"/-->
      </geometry>
      <material name="black">
        <color rgba="0 0 0 1"/>
      </material>
    </visual>
    <collision>
      <origin rpy="0 0 0" xyz="0 0 0"/>
      <geometry>
        <!--box size="0.0175 0.03 0.024"/-->
        <mesh filename="package://iai_wsg_50_description/meshes/GUIDE_WSG50_110.stl" scale="0.001 0.001 0.001"/>
      </geometry>
    </collision>
    <contact_coefficients kd="1.0" kp="1000.0" mu="0"/>
  </link>
  <gazebo reference="gripper_right">
    <material>Gazebo/White</material>
    <turnGravityOff>false</turnGravityOff>
  </gazebo>
  <!-- RIGHT FINGER -->
  <joint name="right_gripper_guide_joint_finger_right" type="fixed">
    <origin rpy="0 0 0" xyz="0 0 0.023"/>
    <parent link="right_gripper_gripper_right_link"/>
    <child link="right_gripper_finger_right_link"/>
  </joint>
  <link name="right_gripper_finger_right_link">
    <inertial>
      <mass value="0.1"/>
      <origin xyz="0 0 0"/>
      <inertia ixx="1.0" ixy="0.0" ixz="0.0" iyy="1.0" iyz="0.0" izz="1.0"/>
    </inertial>
    <visual>
      <origin rpy="0 0 0" xyz="0.0 0 0"/>
      <geometry>
        <mesh filename="package://iai_wsg_50_description/meshes/WSG-FMF.stl" scale="0.001 0.001 0.001"/>
      </geometry>
      <material name="black">
        <color rgba="0 0 0 1"/>
      </material>
    </visual>
    <collision>
      <origin rpy="0 0 0" xyz="0 0 0"/>
      <geometry>
        <mesh filename="package://iai_wsg_50_description/meshes/WSG-FMF.stl" scale="0.001 0.001 0.001"/>
      </geometry>
    </collision>
    <contact_coefficients kd="1.0" kp="1000.0" mu="0"/>
  </link>
  <gazebo reference="right_gripper_finger_right">
    <material>Gazebo/White</material>
    <turnGravityOff>false</turnGravityOff>
  </gazebo>
  <link name="right_gripper_tool_frame"/>
  <joint name="right_gripper_tool_frame_joint" type="fixed">
    <origin rpy="0 0 0" xyz="0 0 0.154"/>
    <parent link="right_gripper_base_link"/>
    <child link="right_gripper_tool_frame"/>
  </joint>
</robot>
